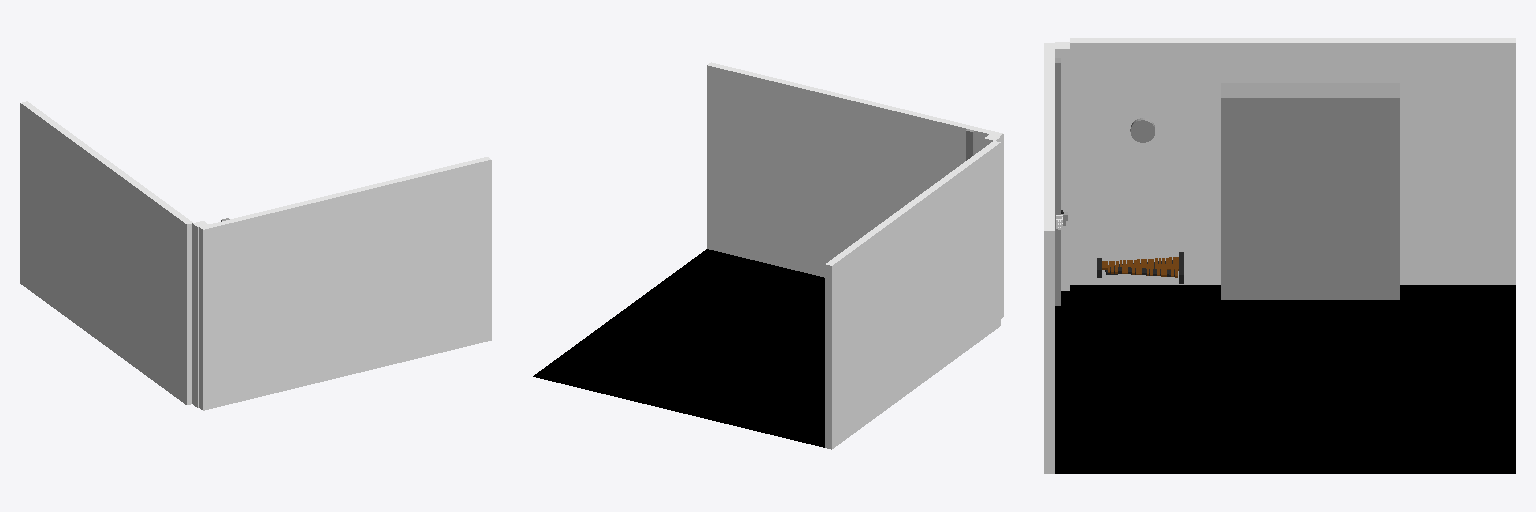
--- Render facts (derived) ---
Views: 3 orthographic renders of the robot side by side, from view 1: azimuth 30°, elevation 25°; view 2: azimuth 150°, elevation 25°; view 3: azimuth 270°, elevation 25°.
Robot: marimbabot_ur5 — 97 links, 96 joints (18 revolute, 78 fixed); root link world; default pose: all joints at 0 but 6 set to mid-range because 0 is outside their limits (s_model_finger_1_joint_1 = 0.6357, s_model_finger_1_joint_3 = -0.637, s_model_finger_2_joint_1 = 0.6357, s_model_finger_2_joint_3 = -0.637, s_model_finger_middle_joint_1 = 0.6357, s_model_finger_middle_joint_3 = -0.637).
Visible links, largest first — view 1: side_wall, wall, small_wall; view 2: side_wall, floor, wall; view 3: floor, wall, shelf, side_wall, small_wall, cable_duct.
Link boxes in pixels (left/top/right/bottom): side_wall: left=199, top=157, right=491, bottom=410; wall: left=20, top=101, right=192, bottom=404; small_wall: left=192, top=221, right=208, bottom=407; side_wall: left=707, top=62, right=1003, bottom=318; floor: left=533, top=249, right=824, bottom=447; wall: left=825, top=141, right=1000, bottom=449; floor: left=1055, top=285, right=1515, bottom=473; wall: left=1070, top=38, right=1515, bottom=284; shelf: left=1221, top=83, right=1399, bottom=299; side_wall: left=1044, top=43, right=1054, bottom=473; small_wall: left=1055, top=42, right=1069, bottom=290; cable_duct: left=1055, top=58, right=1060, bottom=305.
Bounding box of the posed robot: 5.12 × 5.29 × 3 m (x, y, z).
Meshes: 17 distinct files referenced, 2 mesh visuals loaded (2 binary STL); not drawn: 24 (reference not matched to a file when rendering).

URDF robot description (marimbabot_ur5):
<?xml version="1.0" ?>
<!-- =================================================================================== -->
<!-- |    This document was autogenerated by xacro from [local-path]/catkin_ws/src/robot_project/marimbabot_description/urdf/marimbabot_ur5.urdf.xacro | -->
<!-- |    EDITING THIS FILE BY HAND IS NOT RECOMMENDED                                 | -->
<!-- =================================================================================== -->
<robot name="marimbabot_ur5">
    <material name="black">
        <color rgba="0.0 0.0 0.0 1.0" />
    </material>
    <material name="white">
        <color rgba="1 1 1 1" />
    </material>
    <material name="brown">
        <color rgba="0.87 0.72 0.53 1" />
    </material>
    <material name="lightgray">
        <color rgba="0.6 0.6 0.6 1" />
    </material>
    <link name="floor">
        <inertial>
            <origin xyz="2.5 2.5 0" rpy="0 0 0" />
            <mass value="2000" />
            <inertia ixx="1" ixy="0" ixz="0" iyy="1" iyz="0" izz="1" />
        </inertial>
        <visual>
            <material name="black" />
            <origin xyz="2.5 2.4175 0" />
            <geometry>
                <box size="5.0 5.165 0.001" />
            </geometry>
        </visual>
        <collision>
            <origin xyz="2.5 2.4175 0" />
            <geometry>
                <box size="5.0 5.165 0.001" />
            </geometry>
        </collision>
    </link>
    <gazebo reference="floor">
        <material>Gazebo/Blue</material>
        <turnGravityOff>false</turnGravityOff>
        <selfCollide>true</selfCollide>
        <!-- kp: stiffness kd: damping mu1, mu2: friction -->
        <mu1>100.0</mu1>
        <mu2>100.0</mu2>
        <kp>1000000.0</kp>
        <kd>1.0</kd>
        <plugin name="gazebo_ros_control">
            <robotNamespace>/</robotNamespace>
        </plugin>
    </gazebo>
    <link name="wall">
        <inertial>
            <origin xyz="-0.06 2.5 1.5" rpy="0 0 0" />
            <mass value="2000" />
            <inertia ixx="1" ixy="0" ixz="0" iyy="1" iyz="0" izz="1" />
        </inertial>
        <visual>
            <material name="wall_mat">
                <color rgba="1.0 1.0 1.0 0.4" />
            </material>
            <origin xyz="-0.06 2.5 1.5" />
            <geometry>
                <box size="0.12 5.0 3.0" />
            </geometry>
        </visual>
        <collision>
            <origin xyz="-0.06 2.5 1.5" />
            <geometry>
                <box size="0.12 5.0 3.0" />
            </geometry>
        </collision>
    </link>
    <gazebo reference="wall">
        <material>Gazebo/Blue</material>
        <turnGravityOff>false</turnGravityOff>
        <selfCollide>true</selfCollide>
        <!-- kp: stiffness kd: damping mu1, mu2: friction -->
        <mu1>100.0</mu1>
        <mu2>100.0</mu2>
        <kp>1000000.0</kp>
        <kd>1.0</kd>
    </gazebo>
    <!-- frame of the ur5 mount plate -->
    <link name="ur5_mount_plate" />
    <!-- tilted ur5 mount - the meshes are not centered at mount point so they are adjusted to fit to the frame -->
    <link name="ur5_mount">
        <visual>
            <material name="lightgray" />
            <origin xyz="-0.0245 -0.09 -0.28" />
            <geometry>
                <mesh filename="package://tams_ur5_setup_description/meshes/ur5_mount_binary_v3.stl" scale="0.001 0.001 0.001" />
            </geometry>
        </visual>
        <collision>
            <origin xyz="-0.0245 -0.09 -0.28" />
            <geometry>
                <mesh filename="package://tams_ur5_setup_description/meshes/ur5_mount_binary_v3.stl" scale="0.001 0.001 0.001" />
            </geometry>
        </collision>
        <inertial>
            <mass value="0.1" />
            <origin xyz="0 0 0" rpy="0 0 0" />
            <inertia ixx="0.03" iyy="0.03" izz="0.03" ixy="0.0" ixz="0.0" iyz="0.0" />
        </inertial>
    </link>
    <link name="side_wall">
        <inertial>
            <origin xyz="0 0 0" rpy="0 0 0" />
            <mass value="2000" />
            <inertia ixx="1" ixy="0" ixz="0" iyy="1" iyz="0" izz="1" />
        </inertial>
        <visual>
            <material name="side_wall_mat">
                <color rgba="1.0 1.0 1.0 0.4" />
            </material>
            <origin xyz="0 0 0" />
            <geometry>
                <box size="5.0 0.12 3.0" />
            </geometry>
        </visual>
        <collision>
            <origin xyz="0 0 0.0" />
            <geometry>
                <box size="5.0 0.12 3.0" />
            </geometry>
        </collision>
    </link>
    <gazebo reference="side_wall">
        <material>Gazebo/Blue</material>
        <turnGravityOff>false</turnGravityOff>
        <selfCollide>true</selfCollide>
        <!-- kp: stiffness kd: damping mu1, mu2: friction -->
        <mu1>100.0</mu1>
        <mu2>100.0</mu2>
        <kp>1000000.0</kp>
        <kd>1.0</kd>
    </gazebo>
    <link name="small_wall">
        <inertial>
            <origin xyz="0 0 0" rpy="0 0 0" />
            <mass value="2000" />
            <inertia ixx="1" ixy="0" ixz="0" iyy="1" iyz="0" izz="1" />
        </inertial>
        <visual>
            <material name="small_wall_mat">
                <color rgba="1.0 1.0 1.0 0.4" />
            </material>
            <origin xyz="0 0 0" />
            <geometry>
                <box size="0.19 0.165 3.0" />
            </geometry>
        </visual>
        <collision>
            <origin xyz="0 0 0.0" />
            <geometry>
                <!-- the collision model is 7cm wider due to security reasons -->
                <box size="0.33 0.305 3.0" />
            </geometry>
        </collision>
    </link>
    <gazebo reference="small_wall">
        <material>Gazebo/Blue</material>
        <turnGravityOff>false</turnGravityOff>
        <selfCollide>true</selfCollide>
        <!-- kp: stiffness kd: damping mu1, mu2: friction -->
        <mu1>100.0</mu1>
        <mu2>100.0</mu2>
        <kp>1000000.0</kp>
        <kd>1.0</kd>
    </gazebo>
    <link name="cable_duct">
        <inertial>
            <origin xyz="0 0 0" rpy="0 0 0" />
            <mass value="2000" />
            <inertia ixx="1" ixy="0" ixz="0" iyy="1" iyz="0" izz="1" />
        </inertial>
        <visual>
            <material name="cable_duct_mat">
                <color rgba="0.7 0.7 0.7 0.4" />
            </material>
            <origin xyz="0 0 0" />
            <geometry>
                <box size="0.13 0.06 3.0" />
            </geometry>
        </visual>
        <collision>
            <origin xyz="0 0 0" />
            <geometry>
                <!-- the collision model is 7cm wider then the actual duct, because of an unmodelled ethernet port -->
                <box size="0.27 0.2 3.0" />
            </geometry>
        </collision>
    </link>
    <gazebo reference="cable_duct">
        <material>Gazebo/Blue</material>
        <turnGravityOff>false</turnGravityOff>
        <selfCollide>true</selfCollide>
        <!-- kp: stiffness kd: damping mu1, mu2: friction -->
        <mu1>100.0</mu1>
        <mu2>100.0</mu2>
        <kp>1000000.0</kp>
        <kd>1.0</kd>
    </gazebo>
    <link name="shelf">
        <inertial>
            <origin xyz="1.7 0 0" rpy="0 0 0" />
            <mass value="60" />
            <inertia ixx="1" ixy="0" ixz="0" iyy="1" iyz="0" izz="1" />
        </inertial>
        <visual>
            <material name="shelf_mat">
                <color rgba="0.7 0.7 0.7 0.4" />
            </material>
            <origin xyz="0 1.7 0" />
            <geometry>
                <box size="0.4 2 2.5" />
            </geometry>
        </visual>
        <collision>
            <origin xyz="0 1.7 0" />
            <geometry>
                <!-- the collision model is 7cm wider due to security reasons -->
                <box size="0.54 2.14 2.5" />
            </geometry>
        </collision>
    </link>
    <gazebo reference="shelf">
        <material>Gazebo/Orange</material>
        <turnGravityOff>false</turnGravityOff>
        <selfCollide>true</selfCollide>
        <!-- kp: stiffness kd: damping mu1, mu2: friction -->
        <mu1>100.0</mu1>
        <mu2>100.0</mu2>
        <kp>1000000.0</kp>
        <kd>1.0</kd>
    </gazebo>
    <link name="april_tag_ur5">
        <inertial>
            <origin xyz="0 0 0" rpy="0 0 0" />
            <mass value="2000" />
            <inertia ixx="1" ixy="0" ixz="0" iyy="1" iyz="0" izz="1" />
        </inertial>
        <visual>
            <material name="lightgray" />
            <origin xyz="0 0 0" />
            <geometry>
                <box size="0.166 0.166 0.01" />
            </geometry>
        </visual>
        <collision>
            <origin xyz="0 0 0.0" />
            <geometry>
                <box size="0.166 0.166 0.01" />
            </geometry>
        </collision>
    </link>
    <gazebo reference="april_tag_ur5">
        <material>Gazebo/Blue</material>
        <turnGravityOff>false</turnGravityOff>
        <selfCollide>true</selfCollide>
        <mu1>100.0</mu1>
        <mu2>100.0</mu2>
        <kp>1000000.0</kp>
        <kd>1.0</kd>
    </gazebo>
    <link name="clock">
        <inertial>
            <origin xyz="0 0 0" rpy="0 0 0" />
            <mass value="2000" />
            <inertia ixx="1" ixy="0" ixz="0" iyy="1" iyz="0" izz="1" />
        </inertial>
        <visual>
            <material name="clock_mat">
                <color rgba="0.7 0.7 0.7 0.4" />
            </material>
            <origin xyz="0 0 0" />
            <geometry>
                <cylinder length="0.06" radius="0.14" />
            </geometry>
        </visual>
        <collision>
            <origin xyz="0 0 0.0" />
            <geometry>
                <cylinder length="0.06" radius="0.14" />
            </geometry>
        </collision>
    </link>
    <link name="turtlebot" />
    <link name="turtlebot_holder" />
    <joint name="floor_wall_joint" type="fixed">
        <parent link="floor" />
        <child link="wall" />
        <!-- The actual wall in the lab is slightly tilted, the rotation compensates approx 1 deg -->
        <origin rpy="0 0 0" xyz="0 0 0" />
        <!--<origin xyz="0 0 0" rpy="0 -0.017 0" />-->
    </joint>
    <joint name="wall_mount_plate_joint" type="fixed">
        <parent link="wall" />
        <child link="ur5_mount_plate" />
        <origin rpy="0 0 0" xyz="0.0 0.7245 1.05" />
    </joint>
    <joint name="wall_mount_joint" type="fixed">
        <parent link="ur5_mount_plate" />
        <child link="ur5_mount" />
        <origin rpy="0 0 3.141592653589793" xyz="0.2255 -0.025 0.032" />
    </joint>
    <joint name="side_wall_joint" type="fixed">
        <parent link="floor" />
        <child link="side_wall" />
        <!--<origin xyz="2.5 -0.06 1.5" rpy="0 0 0" />-->
        <origin rpy="0 0 0" xyz="2.5 -0.225 1.5" />
    </joint>
    <joint name="small_wall_joint" type="fixed">
        <parent link="floor" />
        <child link="small_wall" />
        <!--<origin xyz="2.5 -0.06 1.5" rpy="0 0 0" />-->
        <origin rpy="0 0 0" xyz="0.07 -0.0825 1.5" />
    </joint>
    <joint name="cable_duct_joint" type="fixed">
        <parent link="floor" />
        <child link="cable_duct" />
        <origin rpy="0 0 0" xyz="0.475 -0.135 1.5" />
    </joint>
    <joint name="shelf_joint" type="fixed">
        <parent link="floor" />
        <child link="shelf" />
        <!-- actual shelf is a little smaller -->
        <origin rpy="0 0 0" xyz="0.2 1 1.25" />
    </joint>
    <joint name="apriltag_ur5_joint" type="fixed">
        <parent link="wall" />
        <child link="april_tag_ur5" />
        <!-- <origin xyz="-0.015 0.75 1.494" rpy="${-pi/2-0.05} 0.0 ${-pi/2}" /> -->
        <!-- with rotation correction -->
        <origin rpy="-1.5707963267948966 0.0 -1.5557963267948967" xyz="-0.009 0.74 1.505" />
        <!-- offset relative to the tilted wall -->
    </joint>
    <joint name="clock_joint" type="fixed">
        <parent link="wall" />
        <child link="clock" />
        <origin rpy="-1.5707963267948966 0.0 -1.5707963267948966" xyz="0.03 0.82 1.93" />
        <!-- offset relative to the tilted wall -->
    </joint>
    <joint name="turtlebot_joint" type="fixed">
        <parent link="world" />
        <child link="turtlebot" />
        <origin rpy="0.0 0.0 0.0" xyz="0.26 1.31 0.0" />
    </joint>
    <joint name="turtlebot_holder_joint" type="fixed">
        <parent link="turtlebot" />
        <child link="turtlebot_holder" />
        <origin rpy="0.0 0.0 0.0" xyz="0.04 0.0 0.41" />
    </joint>
    <!-- fnh: copied from tams_ur5_description/urdf/ur5.urdf.xacro -->
    <!-- we don't want these
  <xacro:include filename="$(find tams_ur5_setup_description)/urdf/upstream/ur.transmission.xacro" />
  <xacro:include filename="$(find tams_ur5_setup_description)/urdf/upstream/ur.gazebo.xacro" />
  -->
    <!-- measured from model -->
    <!--property name="shoulder_height" value="0.089159" /-->
    <!--property name="shoulder_offset" value="0.13585" /-->
    <!-- shoulder_offset - elbow_offset + wrist_1_length = 0.10915 -->
    <!--property name="upper_arm_length" value="0.42500" /-->
    <!--property name="elbow_offset" value="0.1197" /-->
    <!-- CAD measured -->
    <!--property name="forearm_length" value="0.39225" /-->
    <!--property name="wrist_1_length" value="0.093" /-->
    <!-- CAD measured -->
    <!--property name="wrist_2_length" value="0.09465" /-->
    <!-- In CAD this distance is 0.930, but in the spec it is 0.09465 -->
    <!--property name="wrist_3_length" value="0.0823" /-->
    <!-- manually measured -->
    <!-- idea and easy_box borrowed from B21.xacro, 
     <url>http://ros.org/wiki/b21_description</url>, BSD license 

  (C) 2012 fnh, [email redacted]
-->
    <!-- <material name="black">
    <color rgba="0.0 0.0 0.0 1.0"/>
  </material> -->
    <!-- <material name="blue">
    <color rgba="0.0 0.0 0.8 1.0"/>
  </material>
  
  <material name="green">
    <color rgba="0.0 0.8 0.0 1.0"/>
  </material> -->
    <material name="gray">
        <color rgba="0.2 0.2 0.2 1.0" />
    </material>
    <!-- <material name="lightgray">
    <color rgba="0.6 0.6 0.6 1.0"/>
  </material>
  
  <material name="darkgray">
    <color rgba="0.4 0.4 0.4 1.0"/>
  </material> -->
    <material name="marimba_key">
        <color rgba="0.5 0.3 0.1 1.0" />
    </material>
    <!-- <material name="orange">
    <color rgba="0.95 0.64 0.0 1.0"/>
  </material>

  <material name="yellow">
    <color rgba="0.9 0.9 0.0 1.0"/>
  </material>

  <material name="gold">
    <color rgba="0.7 0.7 0.0 1.0"/>
  </material>

  <material name="silver">
    <color rgba="0.95 0.95 0.95 1.0"/>
  </material>
  
  <material name="white">
    <color rgba="1.0 1.0 1.0 1.0"/>
  </material> -->
    <!-- URDF/Gazebo model of a marimba.

Coordinate system:

From the point of view of the marimbist:
    x: points towards you
    y: points towards the right
    z: points towards the ceiling, according to right hand rule


Changelog:
    2023.03.02 Named and correctly positioned bar frames
               Added side boxes
    2023.01.26 Complete model v1
    2023.01.19 Row of keys working
    2023.01.04 First version created
-->
    <link name="marimba">
        <default_inertial_with_mass inertial="1" mass="0.001" />
    </link>
    <gazebo reference="marimba">
        <turnGravityOff>false</turnGravityOff>
        <selfCollide>true</selfCollide>
        <!-- TODO material -->
        <!--<material>Gazebo/Green</material>-->
        <mu1>50.0</mu1>
        <mu2>50.0</mu2>
        <kp>1000000.0</kp>
        <kd>1.0</kd>
    </gazebo>
    <!-- Bottom body -->
    <gazebo reference="body_bottom">
        <turnGravityOff>false</turnGravityOff>
        <selfCollide>true</selfCollide>
        <!-- TODO material -->
        <!-- <material>chordophones/OakWood</material> -->
        <mu1>50.0</mu1>
        <mu2>50.0</mu2>
        <kp>1000000.0</kp>
        <kd>1.0</kd>
    </gazebo>
    <link name="body_bottom">
        <inertial>
            <mass value="7.5" />
            <origin rpy="0 0 0" xyz="0 0 0" />
            <inertia ixx="0.2" ixy="0" ixz="0" iyy="0.2" iyz="0" izz="0.05" />
        </inertial>
        <visual>
            <origin rpy="0 0 0.18" xyz="0 0 0" />
            <geometry>
                <!-- <mesh filename="package://chordophones/meshes/guzheng-body.stl"  scale="0.001 0.001 0.001" /> -->
                <box size="0.2 0.82 0.03" />
            </geometry>
            <material name="gray" />
        </visual>
        <collision>
            <origin rpy="0 0 0.18" xyz="0 0 0" />
            <geometry>
                <box size="0.2 0.82 0.03" />
            </geometry>
        </collision>
    </link>
    <joint name="body_bottom/fixedjoint" type="fixed">
        <origin rpy="0 0 0" xyz="0 0 0" />
        <parent link="marimba" />
        <child link="body_bottom" />
    </joint>
    <!-- Top body -->
    <gazebo reference="body_top">
        <turnGravityOff>false</turnGravityOff>
        <selfCollide>true</selfCollide>
        <!-- TODO material -->
        <!-- <material>chordophones/OakWood</material> -->
        <mu1>50.0</mu1>
        <mu2>50.0</mu2>
        <kp>1000000.0</kp>
        <kd>1.0</kd>
    </gazebo>
    <link name="body_top">
        <inertial>
            <mass value="7.5" />
            <origin rpy="0 0 0" xyz="0 0 0" />
            <inertia ixx="0.2" ixy="0" ixz="0" iyy="0.2" iyz="0" izz="0.05" />
        </inertial>
        <visual>
            <origin rpy="0 0 -0.15" xyz="     -0.18     -0.02     0.0334" />
            <geometry>
                <!-- <mesh filename="package://chordophones/meshes/guzheng-body.stl"  scale="0.001 0.001 0.001" /> -->
                <box size="0.12 0.75 0.03" />
            </geometry>
            <material name="gray" />
        </visual>
        <collision>
            <origin rpy="0 0 -0.15" xyz="     -0.18     -0.02     0.0334" />
            <geometry>
                <box size="0.12 0.75 0.03" />
            </geometry>
        </collision>
    </link>
    <joint name="body_top/fixedjoint" type="fixed">
        <origin rpy="0 0 0" xyz="0 0 0" />
        <parent link="marimba" />
        <child link="body_top" />
    </joint>
    <!-- Left side box -->
    <gazebo reference="body_left">
        <turnGravityOff>false</turnGravityOff>
        <selfCollide>true</selfCollide>
        <!-- TODO material -->
        <!-- <material>chordophones/OakWood</material> -->
        <mu1>50.0</mu1>
        <mu2>50.0</mu2>
        <kp>1000000.0</kp>
        <kd>1.0</kd>
    </gazebo>
    <link name="body_left">
        <inertial>
            <mass value="7.5" />
            <origin rpy="0 0 0" xyz="0 0 0" />
            <inertia ixx="0.2" ixy="0" ixz="0" iyy="0.2" iyz="0" izz="0.05" />
        </inertial>
        <visual>
            <origin rpy="0 0 1.57" xyz="     -0.07999999999999999     -0.453     0.0335" />
            <geometry>
                <!-- <mesh filename="package://chordophones/meshes/guzheng-body.stl"  scale="0.001 0.001 0.001" /> -->
                <box size="0.05 0.61 0.1" />
            </geometry>
            <material name="gray" />
        </visual>
        <collision>
            <origin rpy="0 0 1.57" xyz="     -0.07999999999999999     -0.453     0.0335" />
            <geometry>
                <box size="0.05 0.61 0.1" />
            </geometry>
        </collision>
    </link>
    <joint name="body_left/fixedjoint" type="fixed">
        <origin rpy="0 0 0" xyz="0 0 0" />
        <parent link="marimba" />
        <child link="body_left" />
    </joint>
    <!-- Right side box -->
    <gazebo reference="body_right">
        <turnGravityOff>false</turnGravityOff>
        <selfCollide>true</selfCollide>
        <!-- TODO material -->
        <!-- <material>chordophones/OakWood</material> -->
        <mu1>50.0</mu1>
        <mu2>50.0</mu2>
        <kp>1000000.0</kp>
        <kd>1.0</kd>
    </gazebo>
    <link name="body_right">
        <inertial>
            <mass value="7.5" />
            <origin rpy="0 0 0" xyz="0 0 0" />
            <inertia ixx="0.2" ixy="0" ixz="0" iyy="0.2" iyz="0" izz="0.05" />
        </inertial>
        <visual>
            <origin rpy="0 0 1.57" xyz="     -0.07999999999999999     0.46935000000000004     0.0335" />
            <geometry>
                <!-- <mesh filename="package://chordophones/meshes/guzheng-body.stl"  scale="0.001 0.001 0.001" /> -->
                <box size="0.05 0.32 0.1" />
            </geometry>
            <material name="gray" />
        </visual>
        <collision>
            <origin rpy="0 0 1.57" xyz="     -0.07999999999999999     0.46935000000000004     0.0335" />
            <geometry>
                <box size="0.05 0.32 0.1" />
            </geometry>
        </collision>
    </link>
    <joint name="body_right/fixedjoint" type="fixed">
        <origin rpy="0 0 0" xyz="0 0 0" />
        <parent link="marimba" />
        <child link="body_right" />
    </joint>
    <gazebo reference="bar_C4">
        <turnGravityOff>false</turnGravityOff>
        <selfCollide>true</selfCollide>
        <!-- TODO material -->
        <!-- <material>chordophones/OakWood</material> -->
        <mu1>50.0</mu1>
        <mu2>50.0</mu2>
        <kp>1000000.0</kp>
        <kd>1.0</kd>
    </gazebo>
    <link name="bar_C4">
        <inertial>
            <mass value="0.03" />
            <origin rpy="0 0 0" xyz="0 0 0" />
            <inertia ixx="0.01" ixy="0" ixz="0" iyy="0.01" iyz="0" izz="0.01" />
        </inertial>
        <visual>
            <origin rpy="0 0 0" xyz="0 0 -0.00925" />
            <geometry>
                <box size="0.32 0.0323 0.0185" />
            </geometry>
            <!-- TODO material -->
            <!-- <material name="oak_wood" /> -->
            <material name="marimba_key" />
        </visual>
        <collision>
            <origin rpy="0 0 0" xyz="0 0 -0.00925" />
            <geometry>
                <box size="0.32 0.0323 0.0185" />
            </geometry>
        </collision>
    </link>
    <joint name="bar_C4/joint" type="fixed">
        <origin rpy="0 0 0" xyz="0.05 -0.41 0.0335" />
        <parent link="body_bottom" />
        <child link="bar_C4" />
    </joint>
    <transmission name="bar_C4/joint_transmission">
        <type>transmission_interface/SimpleTransmission</type>
        <joint name="bar_C4/joint">
            <hardwareInterface>hardware_interface/EffortJointInterface</hardwareInterface>
        </joint>
        <actuator name="bar_C4/joint_motor">
            <mechanicalReduction>1</mechanicalReduction>
        </actuator>
    </transmission>
    <gazebo reference="bar_D4">
        <turnGravityOff>false</turnGravityOff>
        <selfCollide>true</selfCollide>
        <!-- TODO material -->
        <!-- <material>chordophones/OakWood</material> -->
        <mu1>50.0</mu1>
        <mu2>50.0</mu2>
        <kp>1000000.0</kp>
        <kd>1.0</kd>
    </gazebo>
    <link name="bar_D4">
        <inertial>
            <mass value="0.03" />
            <origin rpy="0 0 0" xyz="0 0 0" />
            <inertia ixx="0.01" ixy="0" ixz="0" iyy="0.01" iyz="0" izz="0.01" />
        </inertial>
        <visual>
            <origin rpy="0 0 0" xyz="0 0 -0.00925" />
            <geometry>
                <box size="0.31331818181818183 0.0323 0.0185" />
            </geometry>
            <!-- TODO material -->
            <!-- <material name="oak_wood" /> -->
            <material name="marimba_key" />
        </visual>
        <collision>
            <origin rpy="0 0 0" xyz="0 0 -0.00925" />
            <geometry>
                <box size="0.31331818181818183 0.0323 0.0185" />
            </geometry>
        </collision>
    </link>
    <joint name="bar_D4/joint" type="fixed">
        <origin rpy="0 0 0" xyz="0.047828409090909095 -0.3702 0.0335" />
        <parent link="body_bottom" />
        <child link="bar_D4" />
    </joint>
    <transmission name="bar_D4/joint_transmission">
        <type>transmission_interface/SimpleTransmission</type>
        <joint name="bar_D4/joint">
            <hardwareInterface>hardware_interface/EffortJointInterface</hardwareInterface>
        </joint>
        <actuator name="bar_D4/joint_motor">
            <mechanicalReduction>1</mechanicalReduction>
        </actuator>
    </transmission>
    <gazebo reference="bar_E4">
        <turnGravityOff>false</turnGravityOff>
        <selfCollide>true</selfCollide>
        <!-- TODO material -->
        <!-- <material>chordophones/OakWood</material> -->
        <mu1>50.0</mu1>
        <mu2>50.0</mu2>
        <kp>1000000.0</kp>
        <kd>1.0</kd>
    </gazebo>
    <link name="bar_E4">
        <inertial>
            <mass value="0.03" />
            <origin rpy="0 0 0" xyz="0 0 0" />
            <inertia ixx="0.01" ixy="0" ixz="0" iyy="0.01" iyz="0" izz="0.01" />
        </inertial>
        <visual>
            <origin rpy="0 0 0" xyz="0 0 -0.00925" />
            <geometry>
                <box size="0.30663636363636365 0.0323 0.0185" />
            </geometry>
            <!-- TODO material -->
            <!-- <material name="oak_wood" /> -->
            <material name="marimba_key" />
        </visual>
        <collision>
            <origin rpy="0 0 0" xyz="0 0 -0.00925" />
            <geometry>
                <box size="0.30663636363636365 0.0323 0.0185" />
            </geometry>
        </collision>
    </link>
    <joint name="bar_E4/joint" type="fixed">
        <origin rpy="0 0 0" xyz="0.04565681818181819 -0.33039999999999997 0.0335" />
        <parent link="body_bottom" />
        <child link="bar_E4" />
    </joint>
    <transmission name="bar_E4/joint_transmission">
        <type>transmission_interface/SimpleTransmission</type>
        <joint name="bar_E4/joint">
            <hardwareInterface>hardware_interface/EffortJointInterface</hardwareInterface>
        </joint>
        <actuator name="bar_E4/joint_motor">
            <mechanicalReduction>1</mechanicalReduction>
        </actuator>
    </transmission>
    <gazebo reference="bar_F4">
        <turnGravityOff>false</turnGravityOff>
        <selfCollide>true</selfCollide>
        <!-- TODO material -->
        <!-- <material>chordophones/OakWood</material> -->
        <mu1>50.0</mu1>
        <mu2>50.0</mu2>
        <kp>1000000.0</kp>
        <kd>1.0</kd>
    </gazebo>
    <link name="bar_F4">
        <inertial>
            <mass value="0.03" />
            <origin rpy="0 0 0" xyz="0 0 0" />
            <inertia ixx="0.01" ixy="0" ixz="0" iyy="0.01" iyz="0" izz="0.01" />
        </inertial>
        <visual>
            <origin rpy="0 0 0" xyz="0 0 -0.00925" />
            <geometry>
                <box size="0.2999545454545455 0.0323 0.0185" />
            </geometry>
            <!-- TODO material -->
            <!-- <material name="oak_wood" /> -->
            <material name="marimba_key" />
        </visual>
        <collision>
            <origin rpy="0 0 0" xyz="0 0 -0.00925" />
            <geometry>
                <box size="0.2999545454545455 0.0323 0.0185" />
            </geometry>
        </collision>
    </link>
    <joint name="bar_F4/joint" type="fixed">
        <origin rpy="0 0 0" xyz="0.04348522727272727 -0.29059999999999997 0.0335" />
        <parent link="body_bottom" />
        <child link="bar_F4" />
    </joint>
    <transmission name="bar_F4/joint_transmission">
        <type>transmission_interface/SimpleTransmission</type>
        <joint name="bar_F4/joint">
            <hardwareInterface>hardware_interface/EffortJointInterface</hardwareInterface>
        </joint>
        <actuator name="bar_F4/joint_motor">
            <mechanicalReduction>1</mechanicalReduction>
        </actuator>
    </transmission>
    <gazebo reference="bar_G4">
        <turnGravityOff>false</turnGravityOff>
        <selfCollide>true</selfCollide>
        <!-- TODO material -->
        <!-- <material>chordophones/OakWood</material> -->
        <mu1>50.0</mu1>
        <mu2>50.0</mu2>
        <kp>1000000.0</kp>
        <kd>1.0</kd>
    </gazebo>
    <link name="bar_G4">
        <inertial>
            <mass value="0.03" />
            <origin rpy="0 0 0" xyz="0 0 0" />
            <inertia ixx="0.01" ixy="0" ixz="0" iyy="0.01" iyz="0" izz="0.01" />
        </inertial>
        <visual>
            <origin rpy="0 0 0" xyz="0 0 -0.00925" />
            <geometry>
                <box size="0.2932727272727273 0.0323 0.0185" />
            </geometry>
            <!-- TODO material -->
            <!-- <material name="oak_wood" /> -->
            <material name="marimba_key" />
        </visual>
        <collision>
            <origin rpy="0 0 0" xyz="0 0 -0.00925" />
            <geometry>
                <box size="0.2932727272727273 0.0323 0.0185" />
            </geometry>
        </collision>
    </link>
    <joint name="bar_G4/joint" type="fixed">
        <origin rpy="0 0 0" xyz="0.041313636363636365 -0.25079999999999997 0.0335" />
        <parent link="body_bottom" />
        <child link="bar_G4" />
    </joint>
    <transmission name="bar_G4/joint_transmission">
        <type>transmission_interface/SimpleTransmission</type>
        <joint name="bar_G4/joint">
            <hardwareInterface>hardware_interface/EffortJointInterface</hardwareInterface>
        </joint>
        <actuator name="bar_G4/joint_motor">
            <mechanicalReduction>1</mechanicalReduction>
        </actuator>
    </transmission>
    <gazebo reference="bar_A4">
        <turnGravityOff>false</turnGravityOff>
        <selfCollide>true</selfCollide>
        <!-- TODO material -->
        <!-- <material>chordophones/OakWood</material> -->
        <mu1>50.0</mu1>
        <mu2>50.0</mu2>
        <kp>1000000.0</kp>
        <kd>1.0</kd>
    </gazebo>
    <link name="bar_A4">
        <inertial>
            <mass value="0.03" />
            <origin rpy="0 0 0" xyz="0 0 0" />
            <inertia ixx="0.01" ixy="0" ixz="0" iyy="0.01" iyz="0" izz="0.01" />
        </inertial>
        <visual>
            <origin rpy="0 0 0" xyz="0 0 -0.00925" />
            <geometry>
                <box size="0.2865909090909091 0.0323 0.0185" />
            </geometry>
            <!-- TODO material -->
            <!-- <material name="oak_wood" /> -->
            <material name="marimba_key" />
        </visual>
        <collision>
            <origin rpy="0 0 0" xyz="0 0 -0.00925" />
            <geometry>
                <box size="0.2865909090909091 0.0323 0.0185" />
            </geometry>
        </collision>
    </link>
    <joint name="bar_A4/joint" type="fixed">
        <origin rpy="0 0 0" xyz="0.03914204545454546 -0.21099999999999997 0.0335" />
        <parent link="body_bottom" />
        <child link="bar_A4" />
    </joint>
    <transmission name="bar_A4/joint_transmission">
        <type>transmission_interface/SimpleTransmission</type>
        <joint name="bar_A4/joint">
            <hardwareInterface>hardware_interface/EffortJointInterface</hardwareInterface>
        </joint>
        <actuator name="bar_A4/joint_motor">
            <mechanicalReduction>1</mechanicalReduction>
        </actuator>
    </transmission>
    <gazebo reference="bar_B4">
        <turnGravityOff>false</turnGravityOff>
        <selfCollide>true</selfCollide>
        <!-- TODO material -->
        <!-- <material>chordophones/OakWood</material> -->
        <mu1>50.0</mu1>
        <mu2>50.0</mu2>
        <kp>1000000.0</kp>
        <kd>1.0</kd>
    </gazebo>
    <link name="bar_B4">
        <inertial>
            <mass value="0.03" />
            <origin rpy="0 0 0" xyz="0 0 0" />
            <inertia ixx="0.01" ixy="0" ixz="0" iyy="0.01" iyz="0" izz="0.01" />
        </inertial>
        <visual>
            <origin rpy="0 0 0" xyz="0 0 -0.00925" />
            <geometry>
                <box size="0.2799090909090909 0.0323 0.0185" />
            </geometry>
            <!-- TODO material -->
            <!-- <material name="oak_wood" /> -->
            <material name="marimba_key" />
        </visual>
        <collision>
            <origin rpy="0 0 0" xyz="0 0 -0.00925" />
            <geometry>
                <box size="0.2799090909090909 0.0323 0.0185" />
            </geometry>
        </collision>
    </link>
    <joint name="bar_B4/joint" type="fixed">
        <origin rpy="0 0 0" xyz="0.03697045454545454 -0.17119999999999996 0.0335" />
        <parent link="body_bottom" />
        <child link="bar_B4" />
    </joint>
    <transmission name="bar_B4/joint_transmission">
        <type>transmission_interface/SimpleTransmission</type>
        <joint name="bar_B4/joint">
            <hardwareInterface>hardware_interface/EffortJointInterface</hardwareInterface>
        </joint>
        <actuator name="bar_B4/joint_motor">
            <mechanicalReduction>1</mechanicalReduction>
        </actuator>
    </transmission>
    <gazebo reference="bar_C5">
        <turnGravityOff>false</turnGravityOff>
        <selfCollide>true</selfCollide>
        <!-- TODO material -->
        <!-- <material>chordophones/OakWood</material> -->
        <mu1>50.0</mu1>
        <mu2>50.0</mu2>
        <kp>1000000.0</kp>
        <kd>1.0</kd>
    </gazebo>
    <link name="bar_C5">
        <inertial>
            <mass value="0.03" />
            <origin rpy="0 0 0" xyz="0 0 0" />
            <inertia ixx="0.01" ixy="0" ixz="0" iyy="0.01" iyz="0" izz="0.01" />
        </inertial>
        <visual>
            <origin rpy="0 0 0" xyz="0 0 -0.00925" />
            <geometry>
                <box size="0.2732272727272727 0.0323 0.0185" />
            </geometry>
            <!-- TODO material -->
            <!-- <material name="oak_wood" /> -->
            <material name="marimba_key" />
        </visual>
        <collision>
            <origin rpy="0 0 0" xyz="0 0 -0.00925" />
            <geometry>
                <box size="0.2732272727272727 0.0323 0.0185" />
            </geometry>
        </collision>
    </link>
    <joint name="bar_C5/joint" type="fixed">
        <origin rpy="0 0 0" xyz="0.034798863636363635 -0.13139999999999996 0.0335" />
        <parent link="body_bottom" />
        <child link="bar_C5" />
    </joint>
    <transmission name="bar_C5/joint_transmission">
        <type>transmission_interface/SimpleTransmission</type>
        <joint name="bar_C5/joint">
            <hardwareInterface>hardware_interface/EffortJointInterface</hardwareInterface>
        </joint>
        <actuator name="bar_C5/joint_motor">
            <mechanicalReduction>1</mechanicalReduction>
        </actuator>
    </transmission>
    <gazebo reference="bar_D5">
        <turnGravityOff>false</turnGravityOff>
        <selfCollide>true</selfCollide>
        <!-- TODO material -->
        <!-- <material>chordophones/OakWood</material> -->
        <mu1>50.0</mu1>
        <mu2>50.0</mu2>
        <kp>1000000.0</kp>
        <kd>1.0</kd>
    </gazebo>
    <link name="bar_D5">
        <inertial>
            <mass value="0.03" />
            <origin rpy="0 0 0" xyz="0 0 0" />
            <inertia ixx="0.01" ixy="0" ixz="0" iyy="0.01" iyz="0" izz="0.01" />
        </inertial>
        <visual>
            <origin rpy="0 0 0" xyz="0 0 -0.00925" />
            <geometry>
                <box size="0.26654545454545453 0.0323 0.0185" />
            </geometry>
            <!-- TODO material -->
            <!-- <material name="oak_wood" /> -->
            <material name="marimba_key" />
        </visual>
        <collision>
            <origin rpy="0 0 0" xyz="0 0 -0.00925" />
            <geometry>
                <box size="0.26654545454545453 0.0323 0.0185" />
            </geometry>
        </collision>
    </link>
    <joint name="bar_D5/joint" type="fixed">
        <origin rpy="0 0 0" xyz="0.03262727272727273 -0.09159999999999996 0.0335" />
        <parent link="body_bottom" />
        <child link="bar_D5" />
    </joint>
    <transmission name="bar_D5/joint_transmission">
        <type>transmission_interface/SimpleTransmission</type>
        <joint name="bar_D5/joint">
            <hardwareInterface>hardware_interface/EffortJointInterface</hardwareInterface>
        </joint>
        <actuator name="bar_D5/joint_motor">
            <mechanicalReduction>1</mechanicalReduction>
        </actuator>
    </transmission>
    <gazebo reference="bar_E5">
        <turnGravityOff>false</turnGravityOff>
        <selfCollide>true</selfCollide>
        <!-- TODO material -->
        <!-- <material>chordophones/OakWood</material> -->
        <mu1>50.0</mu1>
        <mu2>50.0</mu2>
        <kp>1000000.0</kp>
        <kd>1.0</kd>
    </gazebo>
    <link name="bar_E5">
        <inertial>
            <mass value="0.03" />
            <origin rpy="0 0 0" xyz="0 0 0" />
            <inertia ixx="0.01" ixy="0" ixz="0" iyy="0.01" iyz="0" izz="0.01" />
        </inertial>
        <visual>
            <origin rpy="0 0 0" xyz="0 0 -0.00925" />
            <geometry>
                <box size="0.25986363636363635 0.0323 0.0185" />
            </geometry>
            <!-- TODO material -->
            <!-- <material name="oak_wood" /> -->
            <material name="marimba_key" />
        </visual>
        <collision>
            <origin rpy="0 0 0" xyz="0 0 -0.00925" />
            <geometry>
                <box size="0.25986363636363635 0.0323 0.0185" />
            </geometry>
        </collision>
    </link>
    <joint name="bar_E5/joint" type="fixed">
        <origin rpy="0 0 0" xyz="0.030455681818181816 -0.05179999999999996 0.0335" />
        <parent link="body_bottom" />
        <child link="bar_E5" />
    </joint>
    <transmission name="bar_E5/joint_transmission">
        <type>transmission_interface/SimpleTransmission</type>
        <joint name="bar_E5/joint">
            <hardwareInterface>hardware_interface/EffortJointInterface</hardwareInterface>
        </joint>
        <actuator name="bar_E5/joint_motor">
            <mechanicalReduction>1</mechanicalReduction>
        </actuator>
    </transmission>
    <gazebo reference="bar_F5">
        <turnGravityOff>false</turnGravityOff>
        <selfCollide>true</selfCollide>
        <!-- TODO material -->
        <!-- <material>chordophones/OakWood</material> -->
        <mu1>50.0</mu1>
        <mu2>50.0</mu2>
        <kp>1000000.0</kp>
        <kd>1.0</kd>
    </gazebo>
    <link name="bar_F5">
        <inertial>
            <mass value="0.03" />
            <origin rpy="0 0 0" xyz="0 0 0" />
            <inertia ixx="0.01" ixy="0" ixz="0" iyy="0.01" iyz="0" izz="0.01" />
        </inertial>
        <visual>
            <origin rpy="0 0 0" xyz="0 0 -0.00925" />
            <geometry>
                <box size="0.2531818181818182 0.0323 0.0185" />
            </geometry>
            <!-- TODO material -->
            <!-- <material name="oak_wood" /> -->
            <material name="marimba_key" />
        </visual>
        <collision>
            <origin rpy="0 0 0" xyz="0 0 -0.00925" />
            <geometry>
                <box size="0.2531818181818182 0.0323 0.0185" />
            </geometry>
        </collision>
    </link>
    <joint name="bar_F5/joint" type="fixed">
        <origin rpy="0 0 0" xyz="0.028284090909090908 -0.011999999999999955 0.0335" />
        <parent link="body_bottom" />
        <child link="bar_F5" />
    </joint>
    <transmission name="bar_F5/joint_transmission">
        <type>transmission_interface/SimpleTransmission</type>
        <joint name="bar_F5/joint">
            <hardwareInterface>hardware_interface/EffortJointInterface</hardwareInterface>
        </joint>
        <actuator name="bar_F5/joint_motor">
            <mechanicalReduction>1</mechanicalReduction>
        </actuator>
    </transmission>
    <gazebo reference="bar_G5">
        <turnGravityOff>false</turnGravityOff>
        <selfCollide>true</selfCollide>
        <!-- TODO material -->
        <!-- <material>chordophones/OakWood</material> -->
        <mu1>50.0</mu1>
        <mu2>50.0</mu2>
        <kp>1000000.0</kp>
        <kd>1.0</kd>
    </gazebo>
    <link name="bar_G5">
        <inertial>
            <mass value="0.03" />
            <origin rpy="0 0 0" xyz="0 0 0" />
            <inertia ixx="0.01" ixy="0" ixz="0" iyy="0.01" iyz="0" izz="0.01" />
        </inertial>
        <visual>
            <origin rpy="0 0 0" xyz="0 0 -0.00925" />
            <geometry>
                <box size="0.2465 0.0323 0.0185" />
            </geometry>
            <!-- TODO material -->
            <!-- <material name="oak_wood" /> -->
            <material name="marimba_key" />
        </visual>
        <collision>
            <origin rpy="0 0 0" xyz="0 0 -0.00925" />
            <geometry>
                <box size="0.2465 0.0323 0.0185" />
            </geometry>
        </collision>
    </link>
    <joint name="bar_G5/joint" type="fixed">
        <origin rpy="0 0 0" xyz="0.0261125 0.027800000000000047 0.0335" />
        <parent link="body_bottom" />
        <child link="bar_G5" />
    </joint>
    <transmission name="bar_G5/joint_transmission">
        <type>transmission_interface/SimpleTransmission</type>
        <joint name="bar_G5/joint">
            <hardwareInterface>hardware_interface/EffortJointInterface</hardwareInterface>
        </joint>
        <actuator name="bar_G5/joint_motor">
            <mechanicalReduction>1</mechanicalReduction>
        </actuator>
    </transmission>
    <gazebo reference="bar_A5">
        <turnGravityOff>false</turnGravityOff>
        <selfCollide>true</selfCollide>
        <!-- TODO material -->
        <!-- <material>chordophones/OakWood</material> -->
        <mu1>50.0</mu1>
        <mu2>50.0</mu2>
        <kp>1000000.0</kp>
        <kd>1.0</kd>
    </gazebo>
    <link name="bar_A5">
        <inertial>
            <mass value="0.03" />
            <origin rpy="0 0 0" xyz="0 0 0" />
            <inertia ixx="0.01" ixy="0" ixz="0" iyy="0.01" iyz="0" izz="0.01" />
        </inertial>
        <visual>
            <origin rpy="0 0 0" xyz="0 0 -0.00925" />
            <geometry>
                <box size="0.23981818181818182 0.0323 0.0185" />
            </geometry>
            <!-- TODO material -->
            <!-- <material name="oak_wood" /> -->
            <material name="marimba_key" />
        </visual>
        <collision>
            <origin rpy="0 0 0" xyz="0 0 -0.00925" />
            <geometry>
                <box size="0.23981818181818182 0.0323 0.0185" />
            </geometry>
        </collision>
    </link>
    <joint name="bar_A5/joint" type="fixed">
        <origin rpy="0 0 0" xyz="0.02394090909090909 0.06760000000000005 0.0335" />
        <parent link="body_bottom" />
        <child link="bar_A5" />
    </joint>
    <transmission name="bar_A5/joint_transmission">
        <type>transmission_interface/SimpleTransmission</type>
        <joint name="bar_A5/joint">
            <hardwareInterface>hardware_interface/EffortJointInterface</hardwareInterface>
        </joint>
        <actuator name="bar_A5/joint_motor">
            <mechanicalReduction>1</mechanicalReduction>
        </actuator>
    </transmission>
    <gazebo reference="bar_B5">
        <turnGravityOff>false</turnGravityOff>
        <selfCollide>true</selfCollide>
        <!-- TODO material -->
        <!-- <material>chordophones/OakWood</material> -->
        <mu1>50.0</mu1>
        <mu2>50.0</mu2>
        <kp>1000000.0</kp>
        <kd>1.0</kd>
    </gazebo>
    <link name="bar_B5">
        <inertial>
            <mass value="0.03" />
            <origin rpy="0 0 0" xyz="0 0 0" />
            <inertia ixx="0.01" ixy="0" ixz="0" iyy="0.01" iyz="0" izz="0.01" />
        </inertial>
        <visual>
            <origin rpy="0 0 0" xyz="0 0 -0.00925" />
            <geometry>
                <box size="0.23313636363636364 0.0323 0.0185" />
            </geometry>
            <!-- TODO material -->
            <!-- <material name="oak_wood" /> -->
            <material name="marimba_key" />
        </visual>
        <collision>
            <origin rpy="0 0 0" xyz="0 0 -0.00925" />
            <geometry>
                <box size="0.23313636363636364 0.0323 0.0185" />
            </geometry>
        </collision>
    </link>
    <joint name="bar_B5/joint" type="fixed">
        <origin rpy="0 0 0" xyz="0.021769318181818178 0.1074000000000001 0.0335" />
        <parent link="body_bottom" />
        <child link="bar_B5" />
    </joint>
    <transmission name="bar_B5/joint_transmission">
        <type>transmission_interface/SimpleTransmission</type>
        <joint name="bar_B5/joint">
            <hardwareInterface>hardware_interface/EffortJointInterface</hardwareInterface>
        </joint>
        <actuator name="bar_B5/joint_motor">
            <mechanicalReduction>1</mechanicalReduction>
        </actuator>
    </transmission>
    <gazebo reference="bar_C6">
        <turnGravityOff>false</turnGravityOff>
        <selfCollide>true</selfCollide>
        <!-- TODO material -->
        <!-- <material>chordophones/OakWood</material> -->
        <mu1>50.0</mu1>
        <mu2>50.0</mu2>
        <kp>1000000.0</kp>
        <kd>1.0</kd>
    </gazebo>
    <link name="bar_C6">
        <inertial>
            <mass value="0.03" />
            <origin rpy="0 0 0" xyz="0 0 0" />
            <inertia ixx="0.01" ixy="0" ixz="0" iyy="0.01" iyz="0" izz="0.01" />
        </inertial>
        <visual>
            <origin rpy="0 0 0" xyz="0 0 -0.00925" />
            <geometry>
                <box size="0.22645454545454546 0.0323 0.0185" />
            </geometry>
            <!-- TODO material -->
            <!-- <material name="oak_wood" /> -->
            <material name="marimba_key" />
        </visual>
        <collision>
            <origin rpy="0 0 0" xyz="0 0 -0.00925" />
            <geometry>
                <box size="0.22645454545454546 0.0323 0.0185" />
            </geometry>
        </collision>
    </link>
    <joint name="bar_C6/joint" type="fixed">
        <origin rpy="0 0 0" xyz="0.01959772727272727 0.14720000000000005 0.0335" />
        <parent link="body_bottom" />
        <child link="bar_C6" />
    </joint>
    <transmission name="bar_C6/joint_transmission">
        <type>transmission_interface/SimpleTransmission</type>
        <joint name="bar_C6/joint">
            <hardwareInterface>hardware_interface/EffortJointInterface</hardwareInterface>
        </joint>
        <actuator name="bar_C6/joint_motor">
            <mechanicalReduction>1</mechanicalReduction>
        </actuator>
    </transmission>
    <gazebo reference="bar_D6">
        <turnGravityOff>false</turnGravityOff>
        <selfCollide>true</selfCollide>
        <!-- TODO material -->
        <!-- <material>chordophones/OakWood</material> -->
        <mu1>50.0</mu1>
        <mu2>50.0</mu2>
        <kp>1000000.0</kp>
        <kd>1.0</kd>
    </gazebo>
    <link name="bar_D6">
        <inertial>
            <mass value="0.03" />
            <origin rpy="0 0 0" xyz="0 0 0" />
            <inertia ixx="0.01" ixy="0" ixz="0" iyy="0.01" iyz="0" izz="0.01" />
        </inertial>
        <visual>
            <origin rpy="0 0 0" xyz="0 0 -0.00925" />
            <geometry>
                <box size="0.2197727272727273 0.0323 0.0185" />
            </geometry>
            <!-- TODO material -->
            <!-- <material name="oak_wood" /> -->
            <material name="marimba_key" />
        </visual>
        <collision>
            <origin rpy="0 0 0" xyz="0 0 -0.00925" />
            <geometry>
                <box size="0.2197727272727273 0.0323 0.0185" />
            </geometry>
        </collision>
    </link>
    <joint name="bar_D6/joint" type="fixed">
        <origin rpy="0 0 0" xyz="0.017426136363636366 0.187 0.0335" />
        <parent link="body_bottom" />
        <child link="bar_D6" />
    </joint>
    <transmission name="bar_D6/joint_transmission">
        <type>transmission_interface/SimpleTransmission</type>
        <joint name="bar_D6/joint">
            <hardwareInterface>hardware_interface/EffortJointInterface</hardwareInterface>
        </joint>
        <actuator name="bar_D6/joint_motor">
            <mechanicalReduction>1</mechanicalReduction>
        </actuator>
    </transmission>
    <gazebo reference="bar_E6">
        <turnGravityOff>false</turnGravityOff>
        <selfCollide>true</selfCollide>
        <!-- TODO material -->
        <!-- <material>chordophones/OakWood</material> -->
        <mu1>50.0</mu1>
        <mu2>50.0</mu2>
        <kp>1000000.0</kp>
        <kd>1.0</kd>
    </gazebo>
    <link name="bar_E6">
        <inertial>
            <mass value="0.03" />
            <origin rpy="0 0 0" xyz="0 0 0" />
            <inertia ixx="0.01" ixy="0" ixz="0" iyy="0.01" iyz="0" izz="0.01" />
        </inertial>
        <visual>
            <origin rpy="0 0 0" xyz="0 0 -0.00925" />
            <geometry>
                <box size="0.21309090909090908 0.0323 0.0185" />
            </geometry>
            <!-- TODO material -->
            <!-- <material name="oak_wood" /> -->
            <material name="marimba_key" />
        </visual>
        <collision>
            <origin rpy="0 0 0" xyz="0 0 -0.00925" />
            <geometry>
                <box size="0.21309090909090908 0.0323 0.0185" />
            </geometry>
        </collision>
    </link>
    <joint name="bar_E6/joint" type="fixed">
        <origin rpy="0 0 0" xyz="0.015254545454545451 0.22680000000000006 0.0335" />
        <parent link="body_bottom" />
        <child link="bar_E6" />
    </joint>
    <transmission name="bar_E6/joint_transmission">
        <type>transmission_interface/SimpleTransmission</type>
        <joint name="bar_E6/joint">
            <hardwareInterface>hardware_interface/EffortJointInterface</hardwareInterface>
        </joint>
        <actuator name="bar_E6/joint_motor">
            <mechanicalReduction>1</mechanicalReduction>
        </actuator>
    </transmission>
    <gazebo reference="bar_F6">
        <turnGravityOff>false</turnGravityOff>
        <selfCollide>true</selfCollide>
        <!-- TODO material -->
        <!-- <material>chordophones/OakWood</material> -->
        <mu1>50.0</mu1>
        <mu2>50.0</mu2>
        <kp>1000000.0</kp>
        <kd>1.0</kd>
    </gazebo>
    <link name="bar_F6">
        <inertial>
            <mass value="0.03" />
            <origin rpy="0 0 0" xyz="0 0 0" />
            <inertia ixx="0.01" ixy="0" ixz="0" iyy="0.01" iyz="0" izz="0.01" />
        </inertial>
        <visual>
            <origin rpy="0 0 0" xyz="0 0 -0.00925" />
            <geometry>
                <box size="0.2064090909090909 0.0323 0.0185" />
            </geometry>
            <!-- TODO material -->
            <!-- <material name="oak_wood" /> -->
            <material name="marimba_key" />
        </visual>
        <collision>
            <origin rpy="0 0 0" xyz="0 0 -0.00925" />
            <geometry>
                <box size="0.2064090909090909 0.0323 0.0185" />
            </geometry>
        </collision>
    </link>
    <joint name="bar_F6/joint" type="fixed">
        <origin rpy="0 0 0" xyz="0.013082954545454543 0.2666000000000001 0.0335" />
        <parent link="body_bottom" />
        <child link="bar_F6" />
    </joint>
    <transmission name="bar_F6/joint_transmission">
        <type>transmission_interface/SimpleTransmission</type>
        <joint name="bar_F6/joint">
            <hardwareInterface>hardware_interface/EffortJointInterface</hardwareInterface>
        </joint>
        <actuator name="bar_F6/joint_motor">
            <mechanicalReduction>1</mechanicalReduction>
        </actuator>
    </transmission>
    <gazebo reference="bar_G6">
        <turnGravityOff>false</turnGravityOff>
        <selfCollide>true</selfCollide>
        <!-- TODO material -->
        <!-- <material>chordophones/OakWood</material> -->
        <mu1>50.0</mu1>
        <mu2>50.0</mu2>
        <kp>1000000.0</kp>
        <kd>1.0</kd>
    </gazebo>
    <link name="bar_G6">
        <inertial>
            <mass value="0.03" />
            <origin rpy="0 0 0" xyz="0 0 0" />
            <inertia ixx="0.01" ixy="0" ixz="0" iyy="0.01" iyz="0" izz="0.01" />
        </inertial>
        <visual>
            <origin rpy="0 0 0" xyz="0 0 -0.00925" />
            <geometry>
                <box size="0.1997272727272727 0.0323 0.0185" />
            </geometry>
            <!-- TODO material -->
            <!-- <material name="oak_wood" /> -->
            <material name="marimba_key" />
        </visual>
        <collision>
            <origin rpy="0 0 0" xyz="0 0 -0.00925" />
            <geometry>
                <box size="0.1997272727272727 0.0323 0.0185" />
            </geometry>
        </collision>
    </link>
    <joint name="bar_G6/joint" type="fixed">
        <origin rpy="0 0 0" xyz="0.010911363636363629 0.30640000000000006 0.0335" />
        <parent link="body_bottom" />
        <child link="bar_G6" />
    </joint>
    <transmission name="bar_G6/joint_transmission">
        <type>transmission_interface/SimpleTransmission</type>
        <joint name="bar_G6/joint">
            <hardwareInterface>hardware_interface/EffortJointInterface</hardwareInterface>
        </joint>
        <actuator name="bar_G6/joint_motor">
            <mechanicalReduction>1</mechanicalReduction>
        </actuator>
    </transmission>
    <gazebo reference="bar_A6">
        <turnGravityOff>false</turnGravityOff>
        <selfCollide>true</selfCollide>
        <!-- TODO material -->
        <!-- <material>chordophones/OakWood</material> -->
        <mu1>50.0</mu1>
        <mu2>50.0</mu2>
        <kp>1000000.0</kp>
        <kd>1.0</kd>
    </gazebo>
    <link name="bar_A6">
        <inertial>
            <mass value="0.03" />
            <origin rpy="0 0 0" xyz="0 0 0" />
            <inertia ixx="0.01" ixy="0" ixz="0" iyy="0.01" iyz="0" izz="0.01" />
        </inertial>
        <visual>
            <origin rpy="0 0 0" xyz="0 0 -0.00925" />
            <geometry>
                <box size="0.19304545454545452 0.0323 0.0185" />
            </geometry>
            <!-- TODO material -->
            <!-- <material name="oak_wood" /> -->
            <material name="marimba_key" />
        </visual>
        <collision>
            <origin rpy="0 0 0" xyz="0 0 -0.00925" />
            <geometry>
                <box size="0.19304545454545452 0.0323 0.0185" />
            </geometry>
        </collision>
    </link>
    <joint name="bar_A6/joint" type="fixed">
        <origin rpy="0 0 0" xyz="0.008739772727272721 0.3462 0.0335" />
        <parent link="body_bottom" />
        <child link="bar_A6" />
    </joint>
    <transmission name="bar_A6/joint_transmission">
        <type>transmission_interface/SimpleTransmission</type>
        <joint name="bar_A6/joint">
            <hardwareInterface>hardware_interface/EffortJointInterface</hardwareInterface>
        </joint>
        <actuator name="bar_A6/joint_motor">
            <mechanicalReduction>1</mechanicalReduction>
        </actuator>
    </transmission>
    <gazebo reference="bar_B6">
        <turnGravityOff>false</turnGravityOff>
        <selfCollide>true</selfCollide>
        <!-- TODO material -->
        <!-- <material>chordophones/OakWood</material> -->
        <mu1>50.0</mu1>
        <mu2>50.0</mu2>
        <kp>1000000.0</kp>
        <kd>1.0</kd>
    </gazebo>
    <link name="bar_B6">
        <inertial>
            <mass value="0.03" />
            <origin rpy="0 0 0" xyz="0 0 0" />
            <inertia ixx="0.01" ixy="0" ixz="0" iyy="0.01" iyz="0" izz="0.01" />
        </inertial>
        <visual>
            <origin rpy="0 0 0" xyz="0 0 -0.00925" />
            <geometry>
                <box size="0.18636363636363637 0.0323 0.0185" />
            </geometry>
            <!-- TODO material -->
            <!-- <material name="oak_wood" /> -->
            <material name="marimba_key" />
        </visual>
        <collision>
            <origin rpy="0 0 0" xyz="0 0 -0.00925" />
            <geometry>
                <box size="0.18636363636363637 0.0323 0.0185" />
            </geometry>
        </collision>
    </link>
    <joint name="bar_B6/joint" type="fixed">
        <origin rpy="0 0 0" xyz="0.006568181818181813 0.38600000000000007 0.0335" />
        <parent link="body_bottom" />
        <child link="bar_B6" />
    </joint>
    <transmission name="bar_B6/joint_transmission">
        <type>transmission_interface/SimpleTransmission</type>
        <joint name="bar_B6/joint">
            <hardwareInterface>hardware_interface/EffortJointInterface</hardwareInterface>
        </joint>
        <actuator name="bar_B6/joint_motor">
            <mechanicalReduction>1</mechanicalReduction>
        </actuator>
    </transmission>
    <gazebo reference="bar_C7">
        <turnGravityOff>false</turnGravityOff>
        <selfCollide>true</selfCollide>
        <!-- TODO material -->
        <!-- <material>chordophones/OakWood</material> -->
        <mu1>50.0</mu1>
        <mu2>50.0</mu2>
        <kp>1000000.0</kp>
        <kd>1.0</kd>
    </gazebo>
    <link name="bar_C7">
        <inertial>
            <mass value="0.03" />
            <origin rpy="0 0 0" xyz="0 0 0" />
            <inertia ixx="0.01" ixy="0" ixz="0" iyy="0.01" iyz="0" izz="0.01" />
        </inertial>
        <visual>
            <origin rpy="0 0 0" xyz="0 0 -0.00925" />
            <geometry>
                <box size="0.17968181818181816 0.0323 0.0185" />
            </geometry>
            <!-- TODO material -->
            <!-- <material name="oak_wood" /> -->
            <material name="marimba_key" />
        </visual>
        <collision>
            <origin rpy="0 0 0" xyz="0 0 -0.00925" />
            <geometry>
                <box size="0.17968181818181816 0.0323 0.0185" />
            </geometry>
        </collision>
    </link>
    <joint name="bar_C7/joint" type="fixed">
        <origin rpy="0 0 0" xyz="0.0043965909090909056 0.4258000000000001 0.0335" />
        <parent link="body_bottom" />
        <child link="bar_C7" />
    </joint>
    <transmission name="bar_C7/joint_transmission">
        <type>transmission_interface/SimpleTransmission</type>
        <joint name="bar_C7/joint">
            <hardwareInterface>hardware_interface/EffortJointInterface</hardwareInterface>
        </joint>
        <actuator name="bar_C7/joint_motor">
            <mechanicalReduction>1</mechanicalReduction>
        </actuator>
    </transmission>
    <gazebo reference="bar_Cs4">
        <turnGravityOff>false</turnGravityOff>
        <selfCollide>true</selfCollide>
        <!-- TODO material -->
        <!-- <material>chordophones/OakWood</material> -->
        <mu1>50.0</mu1>
        <mu2>50.0</mu2>
        <kp>1000000.0</kp>
        <kd>1.0</kd>
    </gazebo>
    <link name="bar_Cs4">
        <inertial>
            <mass value="0.03" />
            <origin rpy="0 0 0" xyz="0 0 0" />
            <inertia ixx="0.01" ixy="0" ixz="0" iyy="0.01" iyz="0" izz="0.01" />
        </inertial>
        <visual>
            <origin rpy="0 0 0" xyz="0 0 -0.00925" />
            <geometry>
                <box size="0.314 0.0323 0.0185" />
            </geometry>
            <!-- TODO material -->
            <!-- <material name="oak_wood" /> -->
            <material name="marimba_key" />
        </visual>
        <collision>
            <origin rpy="0 0 0" xyz="0 0 -0.00925" />
            <geometry>
                <box size="0.314 0.0323 0.0185" />
            </geometry>
        </collision>
    </link>
    <joint name="bar_Cs4/joint" type="fixed">
        <origin rpy="0 0 0" xyz="-0.21 -0.395 0.0669" />
        <parent link="body_top" />
        <child link="bar_Cs4" />
    </joint>
    <transmission name="bar_Cs4/joint_transmission">
        <type>transmission_interface/SimpleTransmission</type>
        <joint name="bar_Cs4/joint">
            <hardwareInterface>hardware_interface/EffortJointInterface</hardwareInterface>
        </joint>
        <actuator name="bar_Cs4/joint_motor">
            <mechanicalReduction>1</mechanicalReduction>
        </actuator>
    </transmission>
    <gazebo reference="bar_Ds4">
        <turnGravityOff>false</turnGravityOff>
        <selfCollide>true</selfCollide>
        <!-- TODO material -->
        <!-- <material>chordophones/OakWood</material> -->
        <mu1>50.0</mu1>
        <mu2>50.0</mu2>
        <kp>1000000.0</kp>
        <kd>1.0</kd>
    </gazebo>
    <link name="bar_Ds4">
        <inertial>
            <mass value="0.03" />
            <origin rpy="0 0 0" xyz="0 0 0" />
            <inertia ixx="0.01" ixy="0" ixz="0" iyy="0.01" iyz="0" izz="0.01" />
        </inertial>
        <visual>
            <origin rpy="0 0 0" xyz="0 0 -0.00925" />
            <geometry>
                <box size="0.30755 0.0323 0.0185" />
            </geometry>
            <!-- TODO material -->
            <!-- <material name="oak_wood" /> -->
            <material name="marimba_key" />
        </visual>
        <collision>
            <origin rpy="0 0 0" xyz="0 0 -0.00925" />
            <geometry>
                <box size="0.30755 0.0323 0.0185" />
            </geometry>
        </collision>
    </link>
    <joint name="bar_Ds4/joint" type="fixed">
        <origin rpy="0 0 0" xyz="-0.20716199999999999 -0.3552 0.0669" />
        <parent link="body_top" />
        <child link="bar_Ds4" />
    </joint>
    <transmission name="bar_Ds4/joint_transmission">
        <type>transmission_interface/SimpleTransmission</type>
        <joint name="bar_Ds4/joint">
            <hardwareInterface>hardware_interface/EffortJointInterface</hardwareInterface>
        </joint>
        <actuator name="bar_Ds4/joint_motor">
            <mechanicalReduction>1</mechanicalReduction>
        </actuator>
    </transmission>
    <gazebo reference="bar_Fs4">
        <turnGravityOff>false</turnGravityOff>
        <selfCollide>true</selfCollide>
        <!-- TODO material -->
        <!-- <material>chordophones/OakWood</material> -->
        <mu1>50.0</mu1>
        <mu2>50.0</mu2>
        <kp>1000000.0</kp>
        <kd>1.0</kd>
    </gazebo>
    <link name="bar_Fs4">
        <inertial>
            <mass value="0.03" />
            <origin rpy="0 0 0" xyz="0 0 0" />
            <inertia ixx="0.01" ixy="0" ixz="0" iyy="0.01" iyz="0" izz="0.01" />
        </inertial>
        <visual>
            <origin rpy="0 0 0" xyz="0 0 -0.00925" />
            <geometry>
                <box size="0.29465 0.0323 0.0185" />
            </geometry>
            <!-- TODO material -->
            <!-- <material name="oak_wood" /> -->
            <material name="marimba_key" />
        </visual>
        <collision>
            <origin rpy="0 0 0" xyz="0 0 -0.00925" />
            <geometry>
                <box size="0.29465 0.0323 0.0185" />
            </geometry>
        </collision>
    </link>
    <joint name="bar_Fs4/joint" type="fixed">
        <origin rpy="0 0 0" xyz="-0.201486 -0.2756 0.0669" />
        <parent link="body_top" />
        <child link="bar_Fs4" />
    </joint>
    <transmission name="bar_Fs4/joint_transmission">
        <type>transmission_interface/SimpleTransmission</type>
        <joint name="bar_Fs4/joint">
            <hardwareInterface>hardware_interface/EffortJointInterface</hardwareInterface>
        </joint>
        <actuator name="bar_Fs4/joint_motor">
            <mechanicalReduction>1</mechanicalReduction>
        </actuator>
    </transmission>
    <gazebo reference="bar_Gs4">
        <turnGravityOff>false</turnGravityOff>
        <selfCollide>true</selfCollide>
        <!-- TODO material -->
        <!-- <material>chordophones/OakWood</material> -->
        <mu1>50.0</mu1>
        <mu2>50.0</mu2>
        <kp>1000000.0</kp>
        <kd>1.0</kd>
    </gazebo>
    <link name="bar_Gs4">
        <inertial>
            <mass value="0.03" />
            <origin rpy="0 0 0" xyz="0 0 0" />
            <inertia ixx="0.01" ixy="0" ixz="0" iyy="0.01" iyz="0" izz="0.01" />
        </inertial>
        <visual>
            <origin rpy="0 0 0" xyz="0 0 -0.00925" />
            <geometry>
                <box size="0.2882 0.0323 0.0185" />
            </geometry>
            <!-- TODO material -->
            <!-- <material name="oak_wood" /> -->
            <material name="marimba_key" />
        </visual>
        <collision>
            <origin rpy="0 0 0" xyz="0 0 -0.00925" />
            <geometry>
                <box size="0.2882 0.0323 0.0185" />
            </geometry>
        </collision>
    </link>
    <joint name="bar_Gs4/joint" type="fixed">
        <origin rpy="0 0 0" xyz="-0.198648 -0.2358 0.0669" />
        <parent link="body_top" />
        <child link="bar_Gs4" />
    </joint>
    <transmission name="bar_Gs4/joint_transmission">
        <type>transmission_interface/SimpleTransmission</type>
        <joint name="bar_Gs4/joint">
            <hardwareInterface>hardware_interface/EffortJointInterface</hardwareInterface>
        </joint>
        <actuator name="bar_Gs4/joint_motor">
            <mechanicalReduction>1</mechanicalReduction>
        </actuator>
    </transmission>
    <gazebo reference="bar_As4">
        <turnGravityOff>false</turnGravityOff>
        <selfCollide>true</selfCollide>
        <!-- TODO material -->
        <!-- <material>chordophones/OakWood</material> -->
        <mu1>50.0</mu1>
        <mu2>50.0</mu2>
        <kp>1000000.0</kp>
        <kd>1.0</kd>
    </gazebo>
    <link name="bar_As4">
        <inertial>
            <mass value="0.03" />
            <origin rpy="0 0 0" xyz="0 0 0" />
            <inertia ixx="0.01" ixy="0" ixz="0" iyy="0.01" iyz="0" izz="0.01" />
        </inertial>
        <visual>
            <origin rpy="0 0 0" xyz="0 0 -0.00925" />
            <geometry>
                <box size="0.28175 0.0323 0.0185" />
            </geometry>
            <!-- TODO material -->
            <!-- <material name="oak_wood" /> -->
            <material name="marimba_key" />
        </visual>
        <collision>
            <origin rpy="0 0 0" xyz="0 0 -0.00925" />
            <geometry>
                <box size="0.28175 0.0323 0.0185" />
            </geometry>
        </collision>
    </link>
    <joint name="bar_As4/joint" type="fixed">
        <origin rpy="0 0 0" xyz="-0.19580999999999998 -0.196 0.0669" />
        <parent link="body_top" />
        <child link="bar_As4" />
    </joint>
    <transmission name="bar_As4/joint_transmission">
        <type>transmission_interface/SimpleTransmission</type>
        <joint name="bar_As4/joint">
            <hardwareInterface>hardware_interface/EffortJointInterface</hardwareInterface>
        </joint>
        <actuator name="bar_As4/joint_motor">
            <mechanicalReduction>1</mechanicalReduction>
        </actuator>
    </transmission>
    <gazebo reference="bar_Cs5">
        <turnGravityOff>false</turnGravityOff>
        <selfCollide>true</selfCollide>
        <!-- TODO material -->
        <!-- <material>chordophones/OakWood</material> -->
        <mu1>50.0</mu1>
        <mu2>50.0</mu2>
        <kp>1000000.0</kp>
        <kd>1.0</kd>
    </gazebo>
    <link name="bar_Cs5">
        <inertial>
            <mass value="0.03" />
            <origin rpy="0 0 0" xyz="0 0 0" />
            <inertia ixx="0.01" ixy="0" ixz="0" iyy="0.01" iyz="0" izz="0.01" />
        </inertial>
        <visual>
            <origin rpy="0 0 0" xyz="0 0 -0.00925" />
            <geometry>
                <box size="0.26885000000000003 0.0323 0.0185" />
            </geometry>
            <!-- TODO material -->
            <!-- <material name="oak_wood" /> -->
            <material name="marimba_key" />
        </visual>
        <collision>
            <origin rpy="0 0 0" xyz="0 0 -0.00925" />
            <geometry>
                <box size="0.26885000000000003 0.0323 0.0185" />
            </geometry>
        </collision>
    </link>
    <joint name="bar_Cs5/joint" type="fixed">
        <origin rpy="0 0 0" xyz="-0.190134 -0.1164 0.0669" />
        <parent link="body_top" />
        <child link="bar_Cs5" />
    </joint>
    <transmission name="bar_Cs5/joint_transmission">
        <type>transmission_interface/SimpleTransmission</type>
        <joint name="bar_Cs5/joint">
            <hardwareInterface>hardware_interface/EffortJointInterface</hardwareInterface>
        </joint>
        <actuator name="bar_Cs5/joint_motor">
            <mechanicalReduction>1</mechanicalReduction>
        </actuator>
    </transmission>
    <gazebo reference="bar_Ds5">
        <turnGravityOff>false</turnGravityOff>
        <selfCollide>true</selfCollide>
        <!-- TODO material -->
        <!-- <material>chordophones/OakWood</material> -->
        <mu1>50.0</mu1>
        <mu2>50.0</mu2>
        <kp>1000000.0</kp>
        <kd>1.0</kd>
    </gazebo>
    <link name="bar_Ds5">
        <inertial>
            <mass value="0.03" />
            <origin rpy="0 0 0" xyz="0 0 0" />
            <inertia ixx="0.01" ixy="0" ixz="0" iyy="0.01" iyz="0" izz="0.01" />
        </inertial>
        <visual>
            <origin rpy="0 0 0" xyz="0 0 -0.00925" />
            <geometry>
                <box size="0.26239999999999997 0.0323 0.0185" />
            </geometry>
            <!-- TODO material -->
            <!-- <material name="oak_wood" /> -->
            <material name="marimba_key" />
        </visual>
        <collision>
            <origin rpy="0 0 0" xyz="0 0 -0.00925" />
            <geometry>
                <box size="0.26239999999999997 0.0323 0.0185" />
            </geometry>
        </collision>
    </link>
    <joint name="bar_Ds5/joint" type="fixed">
        <origin rpy="0 0 0" xyz="-0.187296 -0.0766 0.0669" />
        <parent link="body_top" />
        <child link="bar_Ds5" />
    </joint>
    <transmission name="bar_Ds5/joint_transmission">
        <type>transmission_interface/SimpleTransmission</type>
        <joint name="bar_Ds5/joint">
            <hardwareInterface>hardware_interface/EffortJointInterface</hardwareInterface>
        </joint>
        <actuator name="bar_Ds5/joint_motor">
            <mechanicalReduction>1</mechanicalReduction>
        </actuator>
    </transmission>
    <gazebo reference="bar_Fs5">
        <turnGravityOff>false</turnGravityOff>
        <selfCollide>true</selfCollide>
        <!-- TODO material -->
        <!-- <material>chordophones/OakWood</material> -->
        <mu1>50.0</mu1>
        <mu2>50.0</mu2>
        <kp>1000000.0</kp>
        <kd>1.0</kd>
    </gazebo>
    <link name="bar_Fs5">
        <inertial>
            <mass value="0.03" />
            <origin rpy="0 0 0" xyz="0 0 0" />
            <inertia ixx="0.01" ixy="0" ixz="0" iyy="0.01" iyz="0" izz="0.01" />
        </inertial>
        <visual>
            <origin rpy="0 0 0" xyz="0 0 -0.00925" />
            <geometry>
                <box size="0.2495 0.0323 0.0185" />
            </geometry>
            <!-- TODO material -->
            <!-- <material name="oak_wood" /> -->
            <material name="marimba_key" />
        </visual>
        <collision>
            <origin rpy="0 0 0" xyz="0 0 -0.00925" />
            <geometry>
                <box size="0.2495 0.0323 0.0185" />
            </geometry>
        </collision>
    </link>
    <joint name="bar_Fs5/joint" type="fixed">
        <origin rpy="0 0 0" xyz="-0.18162 0.0030000000000000027 0.0669" />
        <parent link="body_top" />
        <child link="bar_Fs5" />
    </joint>
    <transmission name="bar_Fs5/joint_transmission">
        <type>transmission_interface/SimpleTransmission</type>
        <joint name="bar_Fs5/joint">
            <hardwareInterface>hardware_interface/EffortJointInterface</hardwareInterface>
        </joint>
        <actuator name="bar_Fs5/joint_motor">
            <mechanicalReduction>1</mechanicalReduction>
        </actuator>
    </transmission>
    <gazebo reference="bar_Gs5">
        <turnGravityOff>false</turnGravityOff>
        <selfCollide>true</selfCollide>
        <!-- TODO material -->
        <!-- <material>chordophones/OakWood</material> -->
        <mu1>50.0</mu1>
        <mu2>50.0</mu2>
        <kp>1000000.0</kp>
        <kd>1.0</kd>
    </gazebo>
    <link name="bar_Gs5">
        <inertial>
            <mass value="0.03" />
            <origin rpy="0 0 0" xyz="0 0 0" />
            <inertia ixx="0.01" ixy="0" ixz="0" iyy="0.01" iyz="0" izz="0.01" />
        </inertial>
        <visual>
            <origin rpy="0 0 0" xyz="0 0 -0.00925" />
            <geometry>
                <box size="0.24305 0.0323 0.0185" />
            </geometry>
            <!-- TODO material -->
            <!-- <material name="oak_wood" /> -->
            <material name="marimba_key" />
        </visual>
        <collision>
            <origin rpy="0 0 0" xyz="0 0 -0.00925" />
            <geometry>
                <box size="0.24305 0.0323 0.0185" />
            </geometry>
        </collision>
    </link>
    <joint name="bar_Gs5/joint" type="fixed">
        <origin rpy="0 0 0" xyz="-0.178782 0.042800000000000005 0.0669" />
        <parent link="body_top" />
        <child link="bar_Gs5" />
    </joint>
    <transmission name="bar_Gs5/joint_transmission">
        <type>transmission_interface/SimpleTransmission</type>
        <joint name="bar_Gs5/joint">
            <hardwareInterface>hardware_interface/EffortJointInterface</hardwareInterface>
        </joint>
        <actuator name="bar_Gs5/joint_motor">
            <mechanicalReduction>1</mechanicalReduction>
        </actuator>
    </transmission>
    <gazebo reference="bar_As5">
        <turnGravityOff>false</turnGravityOff>
        <selfCollide>true</selfCollide>
        <!-- TODO material -->
        <!-- <material>chordophones/OakWood</material> -->
        <mu1>50.0</mu1>
        <mu2>50.0</mu2>
        <kp>1000000.0</kp>
        <kd>1.0</kd>
    </gazebo>
    <link name="bar_As5">
        <inertial>
            <mass value="0.03" />
            <origin rpy="0 0 0" xyz="0 0 0" />
            <inertia ixx="0.01" ixy="0" ixz="0" iyy="0.01" iyz="0" izz="0.01" />
        </inertial>
        <visual>
            <origin rpy="0 0 0" xyz="0 0 -0.00925" />
            <geometry>
                <box size="0.2366 0.0323 0.0185" />
            </geometry>
            <!-- TODO material -->
            <!-- <material name="oak_wood" /> -->
            <material name="marimba_key" />
        </visual>
        <collision>
            <origin rpy="0 0 0" xyz="0 0 -0.00925" />
            <geometry>
                <box size="0.2366 0.0323 0.0185" />
            </geometry>
        </collision>
    </link>
    <joint name="bar_As5/joint" type="fixed">
        <origin rpy="0 0 0" xyz="-0.175944 0.0826 0.0669" />
        <parent link="body_top" />
        <child link="bar_As5" />
    </joint>
    <transmission name="bar_As5/joint_transmission">
        <type>transmission_interface/SimpleTransmission</type>
        <joint name="bar_As5/joint">
            <hardwareInterface>hardware_interface/EffortJointInterface</hardwareInterface>
        </joint>
        <actuator name="bar_As5/joint_motor">
            <mechanicalReduction>1</mechanicalReduction>
        </actuator>
    </transmission>
    <gazebo reference="bar_Cs6">
        <turnGravityOff>false</turnGravityOff>
        <selfCollide>true</selfCollide>
        <!-- TODO material -->
        <!-- <material>chordophones/OakWood</material> -->
        <mu1>50.0</mu1>
        <mu2>50.0</mu2>
        <kp>1000000.0</kp>
        <kd>1.0</kd>
    </gazebo>
    <link name="bar_Cs6">
        <inertial>
            <mass value="0.03" />
            <origin rpy="0 0 0" xyz="0 0 0" />
            <inertia ixx="0.01" ixy="0" ixz="0" iyy="0.01" iyz="0" izz="0.01" />
        </inertial>
        <visual>
            <origin rpy="0 0 0" xyz="0 0 -0.00925" />
            <geometry>
                <box size="0.2237 0.0323 0.0185" />
            </geometry>
            <!-- TODO material -->
            <!-- <material name="oak_wood" /> -->
            <material name="marimba_key" />
        </visual>
        <collision>
            <origin rpy="0 0 0" xyz="0 0 -0.00925" />
            <geometry>
                <box size="0.2237 0.0323 0.0185" />
            </geometry>
        </collision>
    </link>
    <joint name="bar_Cs6/joint" type="fixed">
        <origin rpy="0 0 0" xyz="-0.17026799999999997 0.1622 0.0669" />
        <parent link="body_top" />
        <child link="bar_Cs6" />
    </joint>
    <transmission name="bar_Cs6/joint_transmission">
        <type>transmission_interface/SimpleTransmission</type>
        <joint name="bar_Cs6/joint">
            <hardwareInterface>hardware_interface/EffortJointInterface</hardwareInterface>
        </joint>
        <actuator name="bar_Cs6/joint_motor">
            <mechanicalReduction>1</mechanicalReduction>
        </actuator>
    </transmission>
    <gazebo reference="bar_Ds6">
        <turnGravityOff>false</turnGravityOff>
        <selfCollide>true</selfCollide>
        <!-- TODO material -->
        <!-- <material>chordophones/OakWood</material> -->
        <mu1>50.0</mu1>
        <mu2>50.0</mu2>
        <kp>1000000.0</kp>
        <kd>1.0</kd>
    </gazebo>
    <link name="bar_Ds6">
        <inertial>
            <mass value="0.03" />
            <origin rpy="0 0 0" xyz="0 0 0" />
            <inertia ixx="0.01" ixy="0" ixz="0" iyy="0.01" iyz="0" izz="0.01" />
        </inertial>
        <visual>
            <origin rpy="0 0 0" xyz="0 0 -0.00925" />
            <geometry>
                <box size="0.21725 0.0323 0.0185" />
            </geometry>
            <!-- TODO material -->
            <!-- <material name="oak_wood" /> -->
            <material name="marimba_key" />
        </visual>
        <collision>
            <origin rpy="0 0 0" xyz="0 0 -0.00925" />
            <geometry>
                <box size="0.21725 0.0323 0.0185" />
            </geometry>
        </collision>
    </link>
    <joint name="bar_Ds6/joint" type="fixed">
        <origin rpy="0 0 0" xyz="-0.16743 0.20199999999999996 0.0669" />
        <parent link="body_top" />
        <child link="bar_Ds6" />
    </joint>
    <transmission name="bar_Ds6/joint_transmission">
        <type>transmission_interface/SimpleTransmission</type>
        <joint name="bar_Ds6/joint">
            <hardwareInterface>hardware_interface/EffortJointInterface</hardwareInterface>
        </joint>
        <actuator name="bar_Ds6/joint_motor">
            <mechanicalReduction>1</mechanicalReduction>
        </actuator>
    </transmission>
    <gazebo reference="bar_Fs6">
        <turnGravityOff>false</turnGravityOff>
        <selfCollide>true</selfCollide>
        <!-- TODO material -->
        <!-- <material>chordophones/OakWood</material> -->
        <mu1>50.0</mu1>
        <mu2>50.0</mu2>
        <kp>1000000.0</kp>
        <kd>1.0</kd>
    </gazebo>
    <link name="bar_Fs6">
        <inertial>
            <mass value="0.03" />
            <origin rpy="0 0 0" xyz="0 0 0" />
            <inertia ixx="0.01" ixy="0" ixz="0" iyy="0.01" iyz="0" izz="0.01" />
        </inertial>
        <visual>
            <origin rpy="0 0 0" xyz="0 0 -0.00925" />
            <geometry>
                <box size="0.20435 0.0323 0.0185" />
            </geometry>
            <!-- TODO material -->
            <!-- <material name="oak_wood" /> -->
            <material name="marimba_key" />
        </visual>
        <collision>
            <origin rpy="0 0 0" xyz="0 0 -0.00925" />
            <geometry>
                <box size="0.20435 0.0323 0.0185" />
            </geometry>
        </collision>
    </link>
    <joint name="bar_Fs6/joint" type="fixed">
        <origin rpy="0 0 0" xyz="-0.16175399999999998 0.2816000000000001 0.0669" />
        <parent link="body_top" />
        <child link="bar_Fs6" />
    </joint>
    <transmission name="bar_Fs6/joint_transmission">
        <type>transmission_interface/SimpleTransmission</type>
        <joint name="bar_Fs6/joint">
            <hardwareInterface>hardware_interface/EffortJointInterface</hardwareInterface>
        </joint>
        <actuator name="bar_Fs6/joint_motor">
            <mechanicalReduction>1</mechanicalReduction>
        </actuator>
    </transmission>
    <gazebo reference="bar_Gs6">
        <turnGravityOff>false</turnGravityOff>
        <selfCollide>true</selfCollide>
        <!-- TODO material -->
        <!-- <material>chordophones/OakWood</material> -->
        <mu1>50.0</mu1>
        <mu2>50.0</mu2>
        <kp>1000000.0</kp>
        <kd>1.0</kd>
    </gazebo>
    <link name="bar_Gs6">
        <inertial>
            <mass value="0.03" />
            <origin rpy="0 0 0" xyz="0 0 0" />
            <inertia ixx="0.01" ixy="0" ixz="0" iyy="0.01" iyz="0" izz="0.01" />
        </inertial>
        <visual>
            <origin rpy="0 0 0" xyz="0 0 -0.00925" />
            <geometry>
                <box size="0.1979 0.0323 0.0185" />
            </geometry>
            <!-- TODO material -->
            <!-- <material name="oak_wood" /> -->
            <material name="marimba_key" />
        </visual>
        <collision>
            <origin rpy="0 0 0" xyz="0 0 -0.00925" />
            <geometry>
                <box size="0.1979 0.0323 0.0185" />
            </geometry>
        </collision>
    </link>
    <joint name="bar_Gs6/joint" type="fixed">
        <origin rpy="0 0 0" xyz="-0.158916 0.3214 0.0669" />
        <parent link="body_top" />
        <child link="bar_Gs6" />
    </joint>
    <transmission name="bar_Gs6/joint_transmission">
        <type>transmission_interface/SimpleTransmission</type>
        <joint name="bar_Gs6/joint">
            <hardwareInterface>hardware_interface/EffortJointInterface</hardwareInterface>
        </joint>
        <actuator name="bar_Gs6/joint_motor">
            <mechanicalReduction>1</mechanicalReduction>
        </actuator>
    </transmission>
    <gazebo reference="bar_As6">
        <turnGravityOff>false</turnGravityOff>
        <selfCollide>true</selfCollide>
        <!-- TODO material -->
        <!-- <material>chordophones/OakWood</material> -->
        <mu1>50.0</mu1>
        <mu2>50.0</mu2>
        <kp>1000000.0</kp>
        <kd>1.0</kd>
    </gazebo>
    <link name="bar_As6">
        <inertial>
            <mass value="0.03" />
            <origin rpy="0 0 0" xyz="0 0 0" />
            <inertia ixx="0.01" ixy="0" ixz="0" iyy="0.01" iyz="0" izz="0.01" />
        </inertial>
        <visual>
            <origin rpy="0 0 0" xyz="0 0 -0.00925" />
            <geometry>
                <box size="0.19145 0.0323 0.0185" />
            </geometry>
            <!-- TODO material -->
            <!-- <material name="oak_wood" /> -->
            <material name="marimba_key" />
        </visual>
        <collision>
            <origin rpy="0 0 0" xyz="0 0 -0.00925" />
            <geometry>
                <box size="0.19145 0.0323 0.0185" />
            </geometry>
        </collision>
    </link>
    <joint name="bar_As6/joint" type="fixed">
        <origin rpy="0 0 0" xyz="-0.156078 0.36119999999999997 0.0669" />
        <parent link="body_top" />
        <child link="bar_As6" />
    </joint>
    <transmission name="bar_As6/joint_transmission">
        <type>transmission_interface/SimpleTransmission</type>
        <joint name="bar_As6/joint">
            <hardwareInterface>hardware_interface/EffortJointInterface</hardwareInterface>
        </joint>
        <actuator name="bar_As6/joint_motor">
            <mechanicalReduction>1</mechanicalReduction>
        </actuator>
    </transmission>
    <link name="ur5_base_link">
        <visual>
            <geometry>
                <mesh filename="package://ur_description/meshes/ur5/visual/base.dae" />
            </geometry>
            <material name="LightGrey">
                <color rgba="0.7 0.7 0.7 1.0" />
            </material>
        </visual>
        <collision>
            <geometry>
                <mesh filename="package://ur_description/meshes/ur5/collision/base.stl" />
            </geometry>
        </collision>
        <inertial>
            <mass value="4.0" />
            <origin rpy="0 0 0" xyz="0.0 0.0 0.0" />
            <inertia ixx="0.00443333156" ixy="0.0" ixz="0.0" iyy="0.00443333156" iyz="0.0" izz="0.0072" />
        </inertial>
    </link>
    <joint name="ur5_shoulder_pan_joint" type="revolute">
        <parent link="ur5_base_link" />
        <child link="ur5_shoulder_link" />
        <origin rpy="0.0 0.0 0.0" xyz="0.0 0.0 0.089159" />
        <axis xyz="0 0 1" />
        <limit effort="150.0" lower="-6.2811853" upper="6.2811853" velocity="3.15" />
        <dynamics damping="0.0" friction="0.0" />
    </joint>
    <link name="ur5_shoulder_link">
        <visual>
            <geometry>
                <mesh filename="package://ur_description/meshes/ur5/visual/shoulder.dae" />
            </geometry>
            <material name="LightGrey">
                <color rgba="0.7 0.7 0.7 1.0" />
            </material>
        </visual>
        <collision>
            <geometry>
                <mesh filename="package://ur_description/meshes/ur5/collision/shoulder.stl" />
            </geometry>
        </collision>
        <inertial>
            <mass value="3.7" />
            <origin rpy="0 0 0" xyz="0.0 0.0 0.0" />
            <inertia ixx="0.010267495893" ixy="0.0" ixz="0.0" iyy="0.010267495893" iyz="0.0" izz="0.00666" />
        </inertial>
    </link>
    <joint name="ur5_shoulder_lift_joint" type="revolute">
        <parent link="ur5_shoulder_link" />
        <child link="ur5_upper_arm_link" />
        <origin rpy="0.0 1.5707963267948966 0.0" xyz="0.0 0.13585 0.0" />
        <axis xyz="0 1 0" />
        <limit effort="150.0" lower="-6.2811853" upper="6.2811853" velocity="3.15" />
        <dynamics damping="0.0" friction="0.0" />
    </joint>
    <link name="ur5_upper_arm_link">
        <visual>
            <geometry>
                <mesh filename="package://ur_description/meshes/ur5/visual/upperarm.dae" />
            </geometry>
            <material name="LightGrey">
                <color rgba="0.7 0.7 0.7 1.0" />
            </material>
        </visual>
        <collision>
            <geometry>
                <mesh filename="package://ur_description/meshes/ur5/collision/upperarm.stl" />
            </geometry>
        </collision>
        <inertial>
            <mass value="8.393" />
            <origin rpy="0 0 0" xyz="0.0 0.0 0.28" />
            <inertia ixx="0.22689067591036005" ixy="0.0" ixz="0.0" iyy="0.22689067591036005" iyz="0.0" izz="0.0151074" />
        </inertial>
    </link>
    <joint name="ur5_elbow_joint" type="revolute">
        <parent link="ur5_upper_arm_link" />
        <child link="ur5_forearm_link" />
        <origin rpy="0.0 0.0 0.0" xyz="0.0 -0.1197 0.425" />
        <axis xyz="0 1 0" />
        <limit effort="150.0" lower="-3.1415926" upper="3.1415926" velocity="3.15" />
        <dynamics damping="0.0" friction="0.0" />
    </joint>
    <link name="ur5_forearm_link">
        <visual>
            <geometry>
                <mesh filename="package://ur_description/meshes/ur5/visual/forearm.dae" />
            </geometry>
            <material name="LightGrey">
                <color rgba="0.7 0.7 0.7 1.0" />
            </material>
        </visual>
        <collision>
            <geometry>
                <mesh filename="package://ur_description/meshes/ur5/collision/forearm.stl" />
            </geometry>
        </collision>
        <inertial>
            <mass value="2.275" />
            <origin rpy="0 0 0" xyz="0.0 0.0 0.25" />
            <inertia ixx="0.04944331355599999" ixy="0.0" ixz="0.0" iyy="0.04944331355599999" iyz="0.0" izz="0.004095" />
        </inertial>
    </link>
    <joint name="ur5_wrist_1_joint" type="revolute">
        <parent link="ur5_forearm_link" />
        <child link="ur5_wrist_1_link" />
        <origin rpy="0.0 1.5707963267948966 0.0" xyz="0.0 0.0 0.39225" />
        <axis xyz="0 1 0" />
        <limit effort="28.0" lower="-6.2811853" upper="6.2811853" velocity="3.2" />
        <dynamics damping="0.0" friction="0.0" />
    </joint>
    <link name="ur5_wrist_1_link">
        <visual>
            <geometry>
                <mesh filename="package://ur_description/meshes/ur5/visual/wrist1.dae" />
            </geometry>
            <material name="LightGrey">
                <color rgba="0.7 0.7 0.7 1.0" />
            </material>
        </visual>
        <collision>
            <geometry>
                <mesh filename="package://ur_description/meshes/ur5/collision/wrist1.stl" />
            </geometry>
        </collision>
        <inertial>
            <mass value="1.219" />
            <origin rpy="0 0 0" xyz="0.0 0.0 0.0" />
            <inertia ixx="0.11117275553087999" ixy="0.0" ixz="0.0" iyy="0.11117275553087999" iyz="0.0" izz="0.21942" />
        </inertial>
    </link>
    <joint name="ur5_wrist_2_joint" type="revolute">
        <parent link="ur5_wrist_1_link" />
        <child link="ur5_wrist_2_link" />
        <origin rpy="0.0 0.0 0.0" xyz="0.0 0.093 0.0" />
        <axis xyz="0 0 1" />
        <limit effort="28.0" lower="-3.1415926" upper="3.1415926" velocity="3.2" />
        <dynamics damping="0.0" friction="0.0" />
    </joint>
    <link name="ur5_wrist_2_link">
        <visual>
            <geometry>
                <mesh filename="package://tams_ur5_description/meshes/ur5/visual/wrist2_rounded.dae" />
            </geometry>
            <material name="LightGrey">
                <color rgba="0.7 0.7 0.7 1.0" />
            </material>
        </visual>
        <collision>
            <geometry>
                <mesh filename="package://tams_ur5_description/meshes/ur5/collision/wrist2_rounded.stl" />
            </geometry>
        </collision>
        <inertial>
            <mass value="1.219" />
            <origin rpy="0 0 0" xyz="0.0 0.0 0.0" />
            <inertia ixx="0.11117275553087999" ixy="0.0" ixz="0.0" iyy="0.11117275553087999" iyz="0.0" izz="0.21942" />
        </inertial>
    </link>
    <joint name="ur5_wrist_3_joint" type="revolute">
        <parent link="ur5_wrist_2_link" />
        <child link="ur5_wrist_3_link" />
        <origin rpy="0.0 0.0 0.0" xyz="0.0 0.0 0.09465" />
        <axis xyz="0 1 0" />
        <limit effort="28.0" lower="-6.2811853" upper="6.2811853" velocity="3.2" />
        <dynamics damping="0.0" friction="0.0" />
    </joint>
    <link name="ur5_wrist_3_link">
        <visual>
            <geometry>
                <mesh filename="package://ur_description/meshes/ur5/visual/wrist3.dae" />
            </geometry>
            <material name="LightGrey">
                <color rgba="0.7 0.7 0.7 1.0" />
            </material>
        </visual>
        <collision>
            <geometry>
                <mesh filename="package://ur_description/meshes/ur5/collision/wrist3.stl" />
            </geometry>
        </collision>
        <inertial>
            <mass value="0.1879" />
            <origin rpy="0 0 0" xyz="0.0 0.0 0.0" />
            <inertia ixx="0.017136473145408" ixy="0.0" ixz="0.0" iyy="0.017136473145408" iyz="0.0" izz="0.033822" />
        </inertial>
    </link>
    <joint name="ur5_ee_fixed_joint" type="fixed">
        <parent link="ur5_wrist_3_link" />
        <child link="ur5_ee_link" />
        <origin rpy="0.0 0.0 1.5707963267948966" xyz="0.0 0.0823 0.0" />
    </joint>
    <link name="ur5_ee_link">
        <collision>
            <geometry>
                <box size="0.01 0.01 0.01" />
            </geometry>
            <origin rpy="0 0 0" xyz="-0.01 0 0" />
        </collision>
        <inertial>
            <mass value="0.1" />
            <origin xyz="0 0 0" rpy="0 0 0" />
            <inertia ixx="0.03" iyy="0.03" izz="0.03" ixy="0.0" ixz="0.0" iyz="0.0" />
        </inertial>
    </link>
    <!-- fnh: we don't want these, and especially not hidden here 
    <xacro:ur_arm_transmission prefix="${prefix}"/>
    <xacro:ur_arm_gazebo prefix="${prefix}" />
    -->
    <!-- ROS base_link to UR 'Base' Coordinates transform -->
    <link name="ur5_base" />
    <joint name="ur5_base_link-base_fixed_joint" type="fixed">
        <!-- NOTE: this rotation is only needed as long as base_link itself is
                 not corrected wrt the real robot (ie: rotated over 180
                 degrees)
      -->
        <origin rpy="0 0 -3.141592653589793" xyz="0 0 0" />
        <parent link="ur5_base_link" />
        <child link="ur5_base" />
    </joint>
    <!-- Frame coincident with all-zeros TCP on UR controller -->
    <link name="ur5_tool0" />
    <joint name="ur5_wrist_3_link-tool0_fixed_joint" type="fixed">
        <origin rpy="-1.5707963267948966 0 0" xyz="0 0.0823 0" />
        <parent link="ur5_wrist_3_link" />
        <child link="ur5_tool0" />
    </joint>
    <link name="ft_adapter">
        <!-- TODO values for inertial are not correct -->
        <inertial>
            <mass value="0.2" />
            <origin xyz="0.0 0.0 0.0" rpy="0 0 0" />
            <inertia ixx="0.002708332" ixy="0.0" ixz="0.0" iyy="0.000708333" iyz="0.0" izz="0.003333332" />
        </inertial>
        <visual>
            <origin rpy="0 0 0.0" xyz="0.0 0 0.0" />
            <geometry>
                <box size="0.088 0.088 0.009" />
            </geometry>
            <material name="gray">
                <color rgba="0.2 0.2 0.2 1" />
            </material>
        </visual>
        <collision>
            <origin rpy="0 0 0.0" xyz="0.0 0 0.0" />
            <geometry>
                <box size="0.088 0.088 0.009" />
            </geometry>
        </collision>
    </link>
    <joint name="ft_adapter_joint" type="fixed">
        <origin rpy="0.0 1.5707963267948966 0.0" xyz="0.0045 0.0 0.0" />
        <child link="ft_adapter" />
        <parent link="ur5_ee_link" />
    </joint>
    <!-- mount the fts to the robot -->
    <joint name="ft_fts_fix" type="fixed">
        <!--In most cases origin would be flange adapter plate: <origin xyz="0 0 0.009" rpy="0 0 0"/> /-->
        <origin rpy="0.0 -1.5707963267948966 3.141592653589793" xyz="0.009 0.0 0.0" />
        <parent link="ur5_ee_link" />
        <child link="ft_fts_robotside" />
    </joint>
    <link name="ft_fts_robotside">
        <inertial>
            <origin rpy="0 0 0" xyz="0 0 0.01875" />
            <mass value="0.65" />
            <inertia ixx="0.000661171875" ixy="0" ixz="0" iyy="0.000661171875" iyz="0" izz="0.00117" />
        </inertial>
        <visual>
            <origin rpy="0 0 0" xyz="0 0 0" />
            <geometry>
                <mesh filename="package://robotiq_ft_sensor/meshes/visual/robotiq_fts150.stl" />
            </geometry>
            <material name="black" />
        </visual>
        <collision>
            <origin rpy="0 0 0" xyz="0 0 0" />
            <geometry>
                <mesh filename="package://robotiq_ft_sensor/meshes/collision/robotiq_fts150.stl" />
            </geometry>
        </collision>
    </link>
    <!-- virtual measurement frame -->
    <joint name="ft_measurment_joint" type="fixed">
        <origin rpy="0 0 0" xyz="0 0 0.01625" />
        <parent link="ft_fts_robotside" />
        <child link="ft_robotiq_ft_frame_id" />
    </joint>
    <link name="ft_robotiq_ft_frame_id" />
    <!-- toolside frame -->
    <joint name="ft_toolside_joint" type="fixed">
        <origin rpy="0 0 0" xyz="0 0 0.0375" />
        <parent link="ft_fts_robotside" />
        <child link="ft_fts_toolside" />
    </joint>
    <link name="ft_fts_toolside" />
    <!-- tool0 frame -->
    <link name="tool0" />
    <joint name="ft_fts_toolside_tool0" type="fixed">
        <parent link="ft_fts_toolside" />
        <child link="tool0" />
        <origin rpy="0.0 -1.5707963267948966 0.0" xyz="0.0 0.0 0.0205" />
    </joint>
    <link name="s_model_adapter">
        <!-- TODO values for inertial are not correct -->
        <inertial>
            <mass value="0.2" />
            <origin xyz="0.0 0.0 0.0" rpy="0 0 0" />
            <inertia ixx="0.002708332" ixy="0.0" ixz="0.0" iyy="0.000708333" iyz="0.0" izz="0.003333332" />
        </inertial>
        <visual>
            <origin rpy="0 0 0.0" xyz="0.0 0 0.0" />
            <geometry>
                <cylinder length="0.035" radius="0.06" />
            </geometry>
            <material name="gray">
                <color rgba="0.2 0.2 0.2 1" />
            </material>
        </visual>
        <visual>
            <origin rpy="0 0 0.0" xyz="0.0725 0 0" />
            <geometry>
                <box size="0.035 0.035 0.035" />
            </geometry>
            <material name="gray">
                <color rgba="0.2 0.2 0.2 1" />
            </material>
        </visual>
        <collision>
            <origin rpy="0 0 0.0" xyz="0.0 0 0.0" />
            <geometry>
                <cylinder length="0.035" radius="0.06" />
            </geometry>
        </collision>
        <collision>
            <origin rpy="0 0 0.0" xyz="0.0725 0 0" />
            <geometry>
                <box size="0.035 0.035 0.035" />
            </geometry>
        </collision>
    </link>
    <joint name="s_model_adapter_joint" type="fixed">
        <origin rpy="0.0 0.0 0.0" xyz="0.0 0.0 0.015" />
        <child link="s_model_adapter" />
        <parent link="ft_fts_toolside" />
    </joint>
    <!-- link list -->
    <link name="s_model_finger_1_link_0">
        <visual>
            <origin rpy="0 0 0" xyz="0.020 0 0" />
            <geometry>
                <mesh filename="package://robotiq_3f_gripper_visualization/meshes/robotiq-3f-gripper_articulated/visual/link_0.dae" />
            </geometry>
            <material name="gray">
                <color rgba="0.2 0.2 0.2 1" />
            </material>
        </visual>
        <collision>
            <origin rpy="0 0 0" xyz="0.020 0 0" />
            <geometry>
                <mesh filename="package://robotiq_3f_gripper_visualization/meshes/robotiq-3f-gripper_articulated/collision/link_0.STL" />
            </geometry>
            <material name="yellow">
                <color rgba="0 1 1 1" />
            </material>
        </collision>
        <inertial>
            <origin rpy="0 0 0" xyz="0 0 0" />
            <mass value="0.05" />
            <inertia ixx="0.01" ixy="-0.00002" ixz="0.00001" iyy="0.0008" iyz="0" izz="0.001" />
        </inertial>
    </link>
    <link name="s_model_finger_1_link_1">
        <visual>
            <origin rpy="0 0 -0.52" xyz="0.050 -.028 0" />
            <geometry>
                <mesh filename="package://robotiq_3f_gripper_visualization/meshes/robotiq-3f-gripper_articulated/visual/link_1.dae" />
            </geometry>
            <material name="gray" />
        </visual>
        <collision>
            <origin rpy="0 0 -0.52" xyz="0.050 -.028 0" />
            <geometry>
                <mesh filename="package://robotiq_3f_gripper_visualization/meshes/robotiq-3f-gripper_articulated/collision/link_1.STL" />
            </geometry>
            <material name="yellow" />
        </collision>
        <inertial>
            <origin rpy="0 0 0" xyz="0 0 0" />
            <mass value="0.15" />
            <inertia ixx="0.001859" ixy="-0.000376" ixz="0.000028" iyy="0.012756" iyz="0" izz="0.0024" />
        </inertial>
    </link>
    <link name="s_model_finger_1_link_2">
        <!--
			NOTE: This link has an offset in the z-direction based on the models that were
			used to generate grap-it poses.  With the offset below the model appears visually
			correct, but it is suspect.
			-->
        <visual>
            <origin rpy="0 0 0" xyz="0.039 0 0.0075" />
            <geometry>
                <mesh filename="package://robotiq_3f_gripper_visualization/meshes/robotiq-3f-gripper_articulated/visual/link_2.dae" />
            </geometry>
            <material name="gray" />
        </visual>
        <collision>
            <origin rpy="0 0 0" xyz="0.039 0 0.0075" />
            <geometry>
                <mesh filename="package://robotiq_3f_gripper_visualization/meshes/robotiq-3f-gripper_articulated/collision/link_2.STL" />
            </geometry>
            <material name="yellow" />
        </collision>
        <inertial>
            <origin rpy="0 0 0" xyz="0 0 0" />
            <mass value="0.15" />
            <inertia ixx="0.001859" ixy="-0.000376" ixz="0.000028" iyy="0.012756" iyz="0" izz="0.0024" />
        </inertial>
    </link>
    <link name="s_model_finger_1_link_3">
        <visual>
            <origin rpy="0 0 0.52" xyz="0 0 0" />
            <geometry>
                <mesh filename="package://robotiq_3f_gripper_visualization/meshes/robotiq-3f-gripper_articulated/visual/link_3.dae" />
            </geometry>
            <material name="gray" />
        </visual>
        <collision>
            <origin rpy="0 0 0.52" xyz="0 0 0" />
            <geometry>
                <mesh filename="package://robotiq_3f_gripper_visualization/meshes/robotiq-3f-gripper_articulated/collision/link_3.STL" />
            </geometry>
            <material name="yellow" />
        </collision>
        <inertial>
            <origin rpy="0 0 0" xyz="0 0 0" />
            <mass value="0.05" />
            <inertia ixx="0.001239" ixy="-0.000251" ixz="0.000019" iyy="0.00085" iyz="0" izz="0.001632" />
        </inertial>
    </link>
    <!-- end of link list -->
    <!-- joint list -->
    <joint name="s_model_finger_1_joint_1" type="revolute">
        <parent link="s_model_finger_1_link_0" />
        <child link="s_model_finger_1_link_1" />
        <axis xyz="0 0 1" />
        <origin rpy="0 0 0" xyz="0.020 0 0" />
        <!-- fnh: velocity=100 is far too fast. We also want some damping for Gazebo -->
        <limit effort="100" lower="0.0495" upper="1.2218" velocity="1.23" />
        <dynamics damping="1" friction="0.1" />
    </joint>
    <joint name="s_model_finger_1_joint_2" type="revolute">
        <parent link="s_model_finger_1_link_1" />
        <child link="s_model_finger_1_link_2" />
        <axis xyz="0 0 1" />
        <origin rpy="0 0 -0.52" xyz="0.050 -.028 0" />
        <limit effort="100" lower="0.0" upper="1.5708" velocity="1.24" />
        <dynamics damping="1" friction="0.1" />
    </joint>
    <joint name="s_model_finger_1_joint_3" type="revolute">
        <parent link="s_model_finger_1_link_2" />
        <child link="s_model_finger_1_link_3" />
        <axis xyz="0 0 1" />
        <origin rpy="0 0 0" xyz="0.039 0 0" />
        <limit effort="100" lower="-1.2217" upper="-0.0523" velocity="1.25" />
        <dynamics damping="1" friction="0.1" />
    </joint>
    <!-- end of joint list -->
    <!-- link list -->
    <link name="s_model_finger_2_link_0">
        <visual>
            <origin rpy="0 0 0" xyz="0.020 0 0" />
            <geometry>
                <mesh filename="package://robotiq_3f_gripper_visualization/meshes/robotiq-3f-gripper_articulated/visual/link_0.dae" />
            </geometry>
            <material name="gray">
                <color rgba="0.2 0.2 0.2 1" />
            </material>
        </visual>
        <collision>
            <origin rpy="0 0 0" xyz="0.020 0 0" />
            <geometry>
                <mesh filename="package://robotiq_3f_gripper_visualization/meshes/robotiq-3f-gripper_articulated/collision/link_0.STL" />
            </geometry>
            <material name="yellow">
                <color rgba="0 1 1 1" />
            </material>
        </collision>
        <inertial>
            <origin rpy="0 0 0" xyz="0 0 0" />
            <mass value="0.05" />
            <inertia ixx="0.01" ixy="-0.00002" ixz="0.00001" iyy="0.0008" iyz="0" izz="0.001" />
        </inertial>
    </link>
    <link name="s_model_finger_2_link_1">
        <visual>
            <origin rpy="0 0 -0.52" xyz="0.050 -.028 0" />
            <geometry>
                <mesh filename="package://robotiq_3f_gripper_visualization/meshes/robotiq-3f-gripper_articulated/visual/link_1.dae" />
            </geometry>
            <material name="gray" />
        </visual>
        <collision>
            <origin rpy="0 0 -0.52" xyz="0.050 -.028 0" />
            <geometry>
                <mesh filename="package://robotiq_3f_gripper_visualization/meshes/robotiq-3f-gripper_articulated/collision/link_1.STL" />
            </geometry>
            <material name="yellow" />
        </collision>
        <inertial>
            <origin rpy="0 0 0" xyz="0 0 0" />
            <mass value="0.15" />
            <inertia ixx="0.001859" ixy="-0.000376" ixz="0.000028" iyy="0.012756" iyz="0" izz="0.0024" />
        </inertial>
    </link>
    <link name="s_model_finger_2_link_2">
        <!--
			NOTE: This link has an offset in the z-direction based on the models that were
			used to generate grap-it poses.  With the offset below the model appears visually
			correct, but it is suspect.
			-->
        <visual>
            <origin rpy="0 0 0" xyz="0.039 0 0.0075" />
            <geometry>
                <mesh filename="package://robotiq_3f_gripper_visualization/meshes/robotiq-3f-gripper_articulated/visual/link_2.dae" />
            </geometry>
            <material name="gray" />
        </visual>
        <collision>
            <origin rpy="0 0 0" xyz="0.039 0 0.0075" />
            <geometry>
                <mesh filename="package://robotiq_3f_gripper_visualization/meshes/robotiq-3f-gripper_articulated/collision/link_2.STL" />
            </geometry>
            <material name="yellow" />
        </collision>
        <inertial>
            <origin rpy="0 0 0" xyz="0 0 0" />
            <mass value="0.15" />
            <inertia ixx="0.001859" ixy="-0.000376" ixz="0.000028" iyy="0.012756" iyz="0" izz="0.0024" />
        </inertial>
    </link>
    <link name="s_model_finger_2_link_3">
        <visual>
            <origin rpy="0 0 0.52" xyz="0 0 0" />
            <geometry>
                <mesh filename="package://robotiq_3f_gripper_visualization/meshes/robotiq-3f-gripper_articulated/visual/link_3.dae" />
            </geometry>
            <material name="gray" />
        </visual>
        <collision>
            <origin rpy="0 0 0.52" xyz="0 0 0" />
            <geometry>
                <mesh filename="package://robotiq_3f_gripper_visualization/meshes/robotiq-3f-gripper_articulated/collision/link_3.STL" />
            </geometry>
            <material name="yellow" />
        </collision>
        <inertial>
            <origin rpy="0 0 0" xyz="0 0 0" />
            <mass value="0.05" />
            <inertia ixx="0.001239" ixy="-0.000251" ixz="0.000019" iyy="0.00085" iyz="0" izz="0.001632" />
        </inertial>
    </link>
    <!-- end of link list -->
    <!-- joint list -->
    <joint name="s_model_finger_2_joint_1" type="revolute">
        <parent link="s_model_finger_2_link_0" />
        <child link="s_model_finger_2_link_1" />
        <axis xyz="0 0 1" />
        <origin rpy="0 0 0" xyz="0.020 0 0" />
        <!-- fnh: velocity=100 is far too fast. We also want some damping for Gazebo -->
        <limit effort="100" lower="0.0495" upper="1.2218" velocity="1.23" />
        <dynamics damping="1" friction="0.1" />
    </joint>
    <joint name="s_model_finger_2_joint_2" type="revolute">
        <parent link="s_model_finger_2_link_1" />
        <child link="s_model_finger_2_link_2" />
        <axis xyz="0 0 1" />
        <origin rpy="0 0 -0.52" xyz="0.050 -.028 0" />
        <limit effort="100" lower="0.0" upper="1.5708" velocity="1.24" />
        <dynamics damping="1" friction="0.1" />
    </joint>
    <joint name="s_model_finger_2_joint_3" type="revolute">
        <parent link="s_model_finger_2_link_2" />
        <child link="s_model_finger_2_link_3" />
        <axis xyz="0 0 1" />
        <origin rpy="0 0 0" xyz="0.039 0 0" />
        <limit effort="100" lower="-1.2217" upper="-0.0523" velocity="1.25" />
        <dynamics damping="1" friction="0.1" />
    </joint>
    <!-- end of joint list -->
    <!-- link list -->
    <link name="s_model_finger_middle_link_0">
        <visual>
            <origin rpy="0 0 0" xyz="0.020 0 0" />
            <geometry>
                <mesh filename="package://robotiq_3f_gripper_visualization/meshes/robotiq-3f-gripper_articulated/visual/link_0.dae" />
            </geometry>
            <material name="gray">
                <color rgba="0.2 0.2 0.2 1" />
            </material>
        </visual>
        <collision>
            <origin rpy="0 0 0" xyz="0.020 0 0" />
            <geometry>
                <mesh filename="package://robotiq_3f_gripper_visualization/meshes/robotiq-3f-gripper_articulated/collision/link_0.STL" />
            </geometry>
            <material name="yellow">
                <color rgba="0 1 1 1" />
            </material>
        </collision>
        <inertial>
            <origin rpy="0 0 0" xyz="0 0 0" />
            <mass value="0.05" />
            <inertia ixx="0.01" ixy="-0.00002" ixz="0.00001" iyy="0.0008" iyz="0" izz="0.001" />
        </inertial>
    </link>
    <link name="s_model_finger_middle_link_1">
        <visual>
            <origin rpy="0 0 -0.52" xyz="0.050 -.028 0" />
            <geometry>
                <mesh filename="package://robotiq_3f_gripper_visualization/meshes/robotiq-3f-gripper_articulated/visual/link_1.dae" />
            </geometry>
            <material name="gray" />
        </visual>
        <collision>
            <origin rpy="0 0 -0.52" xyz="0.050 -.028 0" />
            <geometry>
                <mesh filename="package://robotiq_3f_gripper_visualization/meshes/robotiq-3f-gripper_articulated/collision/link_1.STL" />
            </geometry>
            <material name="yellow" />
        </collision>
        <inertial>
            <origin rpy="0 0 0" xyz="0 0 0" />
            <mass value="0.15" />
            <inertia ixx="0.001859" ixy="-0.000376" ixz="0.000028" iyy="0.012756" iyz="0" izz="0.0024" />
        </inertial>
    </link>
    <link name="s_model_finger_middle_link_2">
        <!--
			NOTE: This link has an offset in the z-direction based on the models that were
			used to generate grap-it poses.  With the offset below the model appears visually
			correct, but it is suspect.
			-->
        <visual>
            <origin rpy="0 0 0" xyz="0.039 0 0.0075" />
            <geometry>
                <mesh filename="package://robotiq_3f_gripper_visualization/meshes/robotiq-3f-gripper_articulated/visual/link_2.dae" />
            </geometry>
            <material name="gray" />
        </visual>
        <collision>
            <origin rpy="0 0 0" xyz="0.039 0 0.0075" />
            <geometry>
                <mesh filename="package://robotiq_3f_gripper_visualization/meshes/robotiq-3f-gripper_articulated/collision/link_2.STL" />
            </geometry>
            <material name="yellow" />
        </collision>
        <inertial>
            <origin rpy="0 0 0" xyz="0 0 0" />
            <mass value="0.15" />
            <inertia ixx="0.001859" ixy="-0.000376" ixz="0.000028" iyy="0.012756" iyz="0" izz="0.0024" />
        </inertial>
    </link>
    <link name="s_model_finger_middle_link_3">
        <visual>
            <origin rpy="0 0 0.52" xyz="0 0 0" />
            <geometry>
                <mesh filename="package://robotiq_3f_gripper_visualization/meshes/robotiq-3f-gripper_articulated/visual/link_3.dae" />
            </geometry>
            <material name="gray" />
        </visual>
        <collision>
            <origin rpy="0 0 0.52" xyz="0 0 0" />
            <geometry>
                <mesh filename="package://robotiq_3f_gripper_visualization/meshes/robotiq-3f-gripper_articulated/collision/link_3.STL" />
            </geometry>
            <material name="yellow" />
        </collision>
        <inertial>
            <origin rpy="0 0 0" xyz="0 0 0" />
            <mass value="0.05" />
            <inertia ixx="0.001239" ixy="-0.000251" ixz="0.000019" iyy="0.00085" iyz="0" izz="0.001632" />
        </inertial>
    </link>
    <!-- end of link list -->
    <!-- joint list -->
    <joint name="s_model_finger_middle_joint_1" type="revolute">
        <parent link="s_model_finger_middle_link_0" />
        <child link="s_model_finger_middle_link_1" />
        <axis xyz="0 0 1" />
        <origin rpy="0 0 0" xyz="0.020 0 0" />
        <!-- fnh: velocity=100 is far too fast. We also want some damping for Gazebo -->
        <limit effort="100" lower="0.0495" upper="1.2218" velocity="1.23" />
        <dynamics damping="1" friction="0.1" />
    </joint>
    <joint name="s_model_finger_middle_joint_2" type="revolute">
        <parent link="s_model_finger_middle_link_1" />
        <child link="s_model_finger_middle_link_2" />
        <axis xyz="0 0 1" />
        <origin rpy="0 0 -0.52" xyz="0.050 -.028 0" />
        <limit effort="100" lower="0.0" upper="1.5708" velocity="1.24" />
        <dynamics damping="1" friction="0.1" />
    </joint>
    <joint name="s_model_finger_middle_joint_3" type="revolute">
        <parent link="s_model_finger_middle_link_2" />
        <child link="s_model_finger_middle_link_3" />
        <axis xyz="0 0 1" />
        <origin rpy="0 0 0" xyz="0.039 0 0" />
        <limit effort="100" lower="-1.2217" upper="-0.0523" velocity="1.25" />
        <dynamics damping="1" friction="0.1" />
    </joint>
    <!-- end of joint list -->
    <!-- link list -->
    <link name="s_model_palm">
        <visual>
            <geometry>
                <mesh filename="package://robotiq_3f_gripper_visualization/meshes/robotiq-3f-gripper_articulated/visual/palm.dae" />
            </geometry>
            <material name="gray">
                <color rgba="0.2 0.2 0.2 1" />
            </material>
        </visual>
        <collision>
            <geometry>
                <mesh filename="package://robotiq_3f_gripper_visualization/meshes/robotiq-3f-gripper_articulated/collision/palm_with_finger_cutouts.stl" />
            </geometry>
            <material name="yellow">
                <color rgba="0 1 1 1" />
            </material>
        </collision>
        <inertial>
            <mass value="0.1" />
            <origin xyz="0 0 0" rpy="0 0 0" />
            <inertia ixx="0.03" iyy="0.03" izz="0.03" ixy="0.0" ixz="0.0" iyz="0.0" />
        </inertial>
    </link>
    <link name="s_model_tool0" />
    <inertial>
        <origin rpy="0 0 0" xyz="0 0 0" />
        <mass value="1.3" />
        <inertia ixx="0.006012" ixy="0.000079" ixz="-0.00024" iyy="0.012892" iyz="0" izz="0.002435" />
    </inertial>
    <!-- end of link list -->
    <!-- joint list -->
    <joint name="s_model_palm_finger_1_joint" type="revolute">
        <parent link="s_model_palm" />
        <child link="s_model_finger_1_link_0" />
        <axis xyz="0 1 0" />
        <origin rpy="0 3.1416 -1.57" xyz="-0.0455 0.0214 0.036" />
        <limit effort="100" lower="-0.1784" upper="0.192" velocity="1.23" />
        <dynamics damping="1.0" friction="0.1" />
    </joint>
    <joint name="s_model_palm_finger_2_joint" type="revolute">
        <parent link="s_model_palm" />
        <child link="s_model_finger_2_link_0" />
        <axis xyz="0 1 0" />
        <origin rpy="0 3.1416 -1.57" xyz="-0.0455 0.0214 -0.036" />
        <limit effort="100" lower="-0.192" upper="0.1784" velocity="1.23" />
        <dynamics damping="1.0" friction="0.1" />
    </joint>
    <joint name="s_model_palm_finger_middle_joint" type="fixed">
        <parent link="s_model_palm" />
        <child link="s_model_finger_middle_link_0" />
        <axis xyz="0 0 1" />
        <origin rpy="0 0 1.57" xyz="0.0455 0.0214 0" />
    </joint>
    <joint name="s_model_palm_tool0" type="fixed">
        <parent link="s_model_palm" />
        <child link="s_model_tool0" />
        <origin rpy="0 0 1.5707" xyz="0.0 0.0875 0.0" />
    </joint>
    <!-- end of joint list -->
    <joint name="gripper_joint" type="fixed">
        <parent link="tool0" />
        <child link="s_model_palm" />
        <origin rpy="0.0 3.141592653589793 -1.5707963267948966" xyz="0.057 0.0 0.0" />
    </joint>
    <!-- gripper plugs  -->
    <link name="plug_collision_model_link_1">
        <!-- TODO values for inertial are not correct -->
        <inertial>
            <mass value="0.2" />
            <origin xyz="0.0 0.0 0.0" rpy="0 0 0" />
            <inertia ixx="0.002708332" ixy="0.0" ixz="0.0" iyy="0.000708333" iyz="0.0" izz="0.003333332" />
        </inertial>
        <visual>
            <origin rpy="0.0 0.0 0.0" xyz="0.08 -0.05 0.0" />
            <geometry>
                <box size="0.08 0.10 0.075" />
            </geometry>
            <material name="plug_collision_model_link1_mat">
                <color rgba="0.7 0.7 0.7 0.3" />
            </material>
        </visual>
        <collision>
            <origin rpy="0.0 0.0 0.0" xyz="0.08 -0.05 0.0" />
            <geometry>
                <box size="0.08 0.10 0.075" />
            </geometry>
        </collision>
    </link>
    <joint name="plug_collision_model_link_1_joint" type="fixed">
        <origin rpy="0.0 0.0 0.0" xyz="0.0 0.0 0.0" />
        <child link="plug_collision_model_link_1" />
        <parent link="ur5_ee_link" />
    </joint>
    <!-- force torque plug -->
    <link name="plug_collision_model_link_2">
        <!-- TODO values for inertial are not correct -->
        <inertial>
            <mass value="0.2" />
            <origin xyz="0.0 0.0 0.0" rpy="0 0 0" />
            <inertia ixx="0.002708332" ixy="0.0" ixz="0.0" iyy="0.000708333" iyz="0.0" izz="0.003333332" />
        </inertial>
        <visual>
            <origin rpy="0.0 0.0 0.0" xyz="0.025 -0.025 0.06" />
            <geometry>
                <box size="0.03 0.09 0.12" />
            </geometry>
            <material name="plug_collision_model_link2_mat">
                <color rgba="0.7 0.7 0.7 0.3" />
            </material>
        </visual>
        <collision>
            <origin rpy="0.0 0.0 0.0" xyz="0.025 -0.025 0.06" />
            <geometry>
                <box size="0.03 0.09 0.12" />
            </geometry>
        </collision>
    </link>
    <joint name="plug_collision_model_link_2_joint" type="fixed">
        <origin rpy="0.0 0.0 0.0" xyz="0.0 0.0 0.0" />
        <child link="plug_collision_model_link_2" />
        <parent link="ur5_ee_link" />
    </joint>
    <!-- usb hub -->
    <link name="plug_collision_model_link_3">
        <!-- TODO values for inertial are not correct -->
        <inertial>
            <mass value="0.2" />
            <origin xyz="0.0 0.0 0.0" rpy="0 0 0" />
            <inertia ixx="0.002708332" ixy="0.0" ixz="0.0" iyy="0.000708333" iyz="0.0" izz="0.003333332" />
        </inertial>
        <visual>
            <origin rpy="0.0 0.0 0.0" xyz="0.025 -0.0 0.06" />
            <geometry>
                <box size="0.08 0.15 0.13" />
            </geometry>
            <material name="plug_collision_model_link3_mat">
                <color rgba="0.7 0.7 0.7 0.3" />
            </material>
        </visual>
        <collision>
            <origin rpy="0.0 0.0 0.0" xyz="0.025 -0.0 0.06" />
            <geometry>
                <box size="0.08 0.15 0.13" />
            </geometry>
        </collision>
    </link>
    <joint name="plug_collision_model_link_3_joint" type="fixed">
        <origin rpy="0.0 0.0 0.0" xyz="0.0 0.0 0.0" />
        <child link="plug_collision_model_link_3" />
        <parent link="ur5_ee_link" />
    </joint>
    <!-- we want Gazebo to publish joint_states for all configured joints -->
    <gazebo>
        <plugin filename="libgazebo_ros_control.so" name="tams_ur5_gazebo_ros_control">
            <robotNamespace>/</robotNamespace>
            <robotSimType>gazebo_ros_control/DefaultRobotHWSim</robotSimType>
            <legacyModeNS>true</legacyModeNS>
            <updateRate>1000.0</updateRate>
        </plugin>
    </gazebo>
    <transmission name="ur5_shoulder_pan_joint_transmission">
        <type>transmission_interface/SimpleTransmission</type>
        <actuator name="ur5_shoulder_pan_joint_motor">
            <mechanicalReduction>1.0</mechanicalReduction>
            <hardwareInterface>hardware_interface/EffortJointInterface</hardwareInterface>
        </actuator>
        <joint name="ur5_shoulder_pan_joint">
            <hardwareInterface>hardware_interface/EffortJointInterface</hardwareInterface>
        </joint>
    </transmission>
    <transmission name="ur5_shoulder_lift_joint_transmission">
        <type>transmission_interface/SimpleTransmission</type>
        <actuator name="ur5_shoulder_lift_joint_motor">
            <mechanicalReduction>1.0</mechanicalReduction>
            <hardwareInterface>hardware_interface/EffortJointInterface</hardwareInterface>
        </actuator>
        <joint name="ur5_shoulder_lift_joint">
            <hardwareInterface>hardware_interface/EffortJointInterface</hardwareInterface>
        </joint>
    </transmission>
    <transmission name="ur5_elbow_joint_transmission">
        <type>transmission_interface/SimpleTransmission</type>
        <actuator name="ur5_elbow_joint_motor">
            <mechanicalReduction>1.0</mechanicalReduction>
            <hardwareInterface>hardware_interface/EffortJointInterface</hardwareInterface>
        </actuator>
        <joint name="ur5_elbow_joint">
            <hardwareInterface>hardware_interface/EffortJointInterface</hardwareInterface>
        </joint>
    </transmission>
    <transmission name="ur5_wrist_1_joint_transmission">
        <type>transmission_interface/SimpleTransmission</type>
        <actuator name="ur5_wrist_1_joint_motor">
            <mechanicalReduction>1.0</mechanicalReduction>
            <hardwareInterface>hardware_interface/EffortJointInterface</hardwareInterface>
        </actuator>
        <joint name="ur5_wrist_1_joint">
            <hardwareInterface>hardware_interface/EffortJointInterface</hardwareInterface>
        </joint>
    </transmission>
    <transmission name="ur5_wrist_2_joint_transmission">
        <type>transmission_interface/SimpleTransmission</type>
        <actuator name="ur5_wrist_2_joint_motor">
            <mechanicalReduction>1.0</mechanicalReduction>
            <hardwareInterface>hardware_interface/EffortJointInterface</hardwareInterface>
        </actuator>
        <joint name="ur5_wrist_2_joint">
            <hardwareInterface>hardware_interface/EffortJointInterface</hardwareInterface>
        </joint>
    </transmission>
    <transmission name="ur5_wrist_3_joint_transmission">
        <type>transmission_interface/SimpleTransmission</type>
        <actuator name="ur5_wrist_3_joint_motor">
            <mechanicalReduction>1.0</mechanicalReduction>
            <hardwareInterface>hardware_interface/EffortJointInterface</hardwareInterface>
        </actuator>
        <joint name="ur5_wrist_3_joint">
            <hardwareInterface>hardware_interface/EffortJointInterface</hardwareInterface>
        </joint>
    </transmission>
    <transmission name="s_model_palm_finger_1_joint_transmission">
        <type>transmission_interface/SimpleTransmission</type>
        <actuator name="s_model_palm_finger_1_joint_motor">
            <mechanicalReduction>1.0</mechanicalReduction>
            <hardwareInterface>hardware_interface/EffortJointInterface</hardwareInterface>
        </actuator>
        <joint name="s_model_palm_finger_1_joint">
            <hardwareInterface>hardware_interface/EffortJointInterface</hardwareInterface>
        </joint>
    </transmission>
    <transmission name="s_model_finger_1_joint_1_transmission">
        <type>transmission_interface/SimpleTransmission</type>
        <actuator name="s_model_finger_1_joint_1_motor">
            <mechanicalReduction>1.0</mechanicalReduction>
            <hardwareInterface>hardware_interface/EffortJointInterface</hardwareInterface>
        </actuator>
        <joint name="s_model_finger_1_joint_1">
            <hardwareInterface>hardware_interface/EffortJointInterface</hardwareInterface>
        </joint>
    </transmission>
    <transmission name="s_model_finger_1_joint_2_transmission">
        <type>transmission_interface/SimpleTransmission</type>
        <actuator name="s_model_finger_1_joint_2_motor">
            <mechanicalReduction>1.0</mechanicalReduction>
            <hardwareInterface>hardware_interface/EffortJointInterface</hardwareInterface>
        </actuator>
        <joint name="s_model_finger_1_joint_2">
            <hardwareInterface>hardware_interface/EffortJointInterface</hardwareInterface>
        </joint>
    </transmission>
    <transmission name="s_model_finger_1_joint_3_transmission">
        <type>transmission_interface/SimpleTransmission</type>
        <actuator name="s_model_finger_1_joint_3_motor">
            <mechanicalReduction>1.0</mechanicalReduction>
            <hardwareInterface>hardware_interface/EffortJointInterface</hardwareInterface>
        </actuator>
        <joint name="s_model_finger_1_joint_3">
            <hardwareInterface>hardware_interface/EffortJointInterface</hardwareInterface>
        </joint>
    </transmission>
    <transmission name="s_model_palm_finger_2_joint_transmission">
        <type>transmission_interface/SimpleTransmission</type>
        <actuator name="s_model_palm_finger_2_joint_motor">
            <mechanicalReduction>1.0</mechanicalReduction>
            <hardwareInterface>hardware_interface/EffortJointInterface</hardwareInterface>
        </actuator>
        <joint name="s_model_palm_finger_2_joint">
            <hardwareInterface>hardware_interface/EffortJointInterface</hardwareInterface>
        </joint>
    </transmission>
    <transmission name="s_model_finger_2_joint_1_transmission">
        <type>transmission_interface/SimpleTransmission</type>
        <actuator name="s_model_finger_2_joint_1_motor">
            <mechanicalReduction>1.0</mechanicalReduction>
            <hardwareInterface>hardware_interface/EffortJointInterface</hardwareInterface>
        </actuator>
        <joint name="s_model_finger_2_joint_1">
            <hardwareInterface>hardware_interface/EffortJointInterface</hardwareInterface>
        </joint>
    </transmission>
    <transmission name="s_model_finger_2_joint_2_transmission">
        <type>transmission_interface/SimpleTransmission</type>
        <actuator name="s_model_finger_2_joint_2_motor">
            <mechanicalReduction>1.0</mechanicalReduction>
            <hardwareInterface>hardware_interface/EffortJointInterface</hardwareInterface>
        </actuator>
        <joint name="s_model_finger_2_joint_2">
            <hardwareInterface>hardware_interface/EffortJointInterface</hardwareInterface>
        </joint>
    </transmission>
    <transmission name="s_model_finger_2_joint_3_transmission">
        <type>transmission_interface/SimpleTransmission</type>
        <actuator name="s_model_finger_2_joint_3_motor">
            <mechanicalReduction>1.0</mechanicalReduction>
            <hardwareInterface>hardware_interface/EffortJointInterface</hardwareInterface>
        </actuator>
        <joint name="s_model_finger_2_joint_3">
            <hardwareInterface>hardware_interface/EffortJointInterface</hardwareInterface>
        </joint>
    </transmission>
    <transmission name="s_model_finger_middle_joint_1_transmission">
        <type>transmission_interface/SimpleTransmission</type>
        <actuator name="s_model_finger_middle_joint_1_motor">
            <mechanicalReduction>1.0</mechanicalReduction>
            <hardwareInterface>hardware_interface/EffortJointInterface</hardwareInterface>
        </actuator>
        <joint name="s_model_finger_middle_joint_1">
            <hardwareInterface>hardware_interface/EffortJointInterface</hardwareInterface>
        </joint>
    </transmission>
    <transmission name="s_model_finger_middle_joint_2_transmission">
        <type>transmission_interface/SimpleTransmission</type>
        <actuator name="s_model_finger_middle_joint_2_motor">
            <mechanicalReduction>1.0</mechanicalReduction>
            <hardwareInterface>hardware_interface/EffortJointInterface</hardwareInterface>
        </actuator>
        <joint name="s_model_finger_middle_joint_2">
            <hardwareInterface>hardware_interface/EffortJointInterface</hardwareInterface>
        </joint>
    </transmission>
    <transmission name="s_model_finger_middle_joint_3_transmission">
        <type>transmission_interface/SimpleTransmission</type>
        <actuator name="s_model_finger_middle_joint_3_motor">
            <mechanicalReduction>1.0</mechanicalReduction>
            <hardwareInterface>hardware_interface/EffortJointInterface</hardwareInterface>
        </actuator>
        <joint name="s_model_finger_middle_joint_3">
            <hardwareInterface>hardware_interface/EffortJointInterface</hardwareInterface>
        </joint>
    </transmission>
    <link name="world" />
    <joint name="world_floor_joint" type="fixed">
        <parent link="world" />
        <child link="floor" />
        <origin rpy="0.0 0.0 0.0" xyz="0.0 0.0 0.0" />
    </joint>
    <link name="map" />
    <joint name="map_world" type="fixed">
        <parent link="world" />
        <child link="map" />
        <origin rpy="0.0 0.0 -0.32" xyz="0.9 1.3 0.0" />
    </joint>
    <joint name="wall_ur5_joint" type="fixed">
        <parent link="ur5_mount" />
        <child link="ur5_base_link" />
        <origin rpy="0.0 0.0 1.5707963267948966" xyz="0 0 0.003" />
    </joint>
    <joint name="world_marimba_joint" type="fixed">
        <parent link="world" />
        <child link="marimba" />
        <origin rpy="0.0 0.0 3.141592653589793" xyz="1.25 0.8 0.80" />
    </joint>
    <link name="mallet_base_link">
        <visual>
            <origin rpy="-1.5707963267948966 0.0 0.0" xyz="-0.0315 -0.0342 0.11" />
            <geometry>
                <mesh filename="package://marimbabot_description/mesh/two_mallet_base_element.stl" scale="0.001 0.001 0.001" />
            </geometry>
            <material name="mallet_holder_white">
                <color rgba="1.0 1.0 1.0 1.0" />
            </material>
        </visual>
        <collision>
            <origin rpy="0.0 0.0 0.0" xyz="0.0 0.0 0.055" />
            <geometry>
                <box size="0.077 0.0804 0.11" />
            </geometry>
        </collision>
        <inertial>
            <mass value="0.1" />
            <origin xyz="0 0 0" rpy="0 0 0" />
            <inertia ixx="0.03" iyy="0.03" izz="0.03" ixy="0.0" ixz="0.0" iyz="0.0" />
        </inertial>
    </link>
    <link name="mallet_servo_box">
        <visual>
            <origin rpy="-1.5707963267948966 0.0 0.0" xyz="-0.01 -0.0342 0.0233" />
            <geometry>
                <mesh filename="package://marimbabot_description/mesh/two_mallet_servo_element.stl" scale="0.001 0.001 0.001" />
            </geometry>
            <material name="mallet_holder_white">
                <color rgba="1.0 1.0 1.0 1.0" />
            </material>
        </visual>
    </link>
    <link name="mallet_base_box_1">
        <visual>
            <origin rpy="-1.5707963267948966 -1.5707963267948966 0.0" xyz="0.0 0.0 0.045" />
            <geometry>
                <mesh filename="package://marimbabot_description/mesh/mallet_double_flex.stl" scale="0.001 0.001 0.001" />
            </geometry>
            <material name="mallet_holder_white">
                <color rgba="1.0 1.0 1.0 1.0" />
            </material>
        </visual>
        <collision>
            <origin rpy="0.0 0.0 0.0" xyz="0.0 0.0 0.045" />
            <geometry>
                <box size="0.033 0.09 0.09" />
            </geometry>
        </collision>
        <inertial>
            <mass value="0.1" />
            <origin xyz="0 0 0" rpy="0 0 0" />
            <inertia ixx="0.03" iyy="0.03" izz="0.03" ixy="0.0" ixz="0.0" iyz="0.0" />
        </inertial>
    </link>
    <link name="mallet_base_box_2">
        <visual>
            <origin rpy="-1.5707963267948966 -1.5707963267948966 3.141592653589793" xyz="0.0 0.0 0.045" />
            <geometry>
                <mesh filename="package://marimbabot_description/mesh/mallet_double_flex.stl" scale="0.001 0.001 0.001" />
            </geometry>
            <material name="mallet_holder_white">
                <color rgba="1.0 1.0 1.0 1.0" />
            </material>
        </visual>
        <collision>
            <origin rpy="0.0 0.0 0.0" xyz="0.0 0.0 0.045" />
            <geometry>
                <box size="0.033 0.09 0.09" />
            </geometry>
        </collision>
        <inertial>
            <mass value="0.1" />
            <origin xyz="0 0 0" rpy="0 0 0" />
            <inertia ixx="0.03" iyy="0.03" izz="0.03" ixy="0.0" ixz="0.0" iyz="0.0" />
        </inertial>
    </link>
    <link name="mallet_neck_1">
        <collision>
            <origin rpy="0.0 0.0 0.0" xyz="0.0 0.0 0.1875" />
            <geometry>
                <cylinder length="0.375" radius="0.0042" />
            </geometry>
        </collision>
        <inertial>
            <mass value="0.1" />
            <origin xyz="0 0 0" rpy="0 0 0" />
            <inertia ixx="0.03" iyy="0.03" izz="0.03" ixy="0.0" ixz="0.0" iyz="0.0" />
        </inertial>
    </link>
    <link name="mallet_neck_2">
        <collision>
            <origin rpy="0.0 0.0 0.0" xyz="0.0 0.0 0.1875" />
            <geometry>
                <cylinder length="0.375" radius="0.0042" />
            </geometry>
        </collision>
        <inertial>
            <mass value="0.1" />
            <origin xyz="0 0 0" rpy="0 0 0" />
            <inertia ixx="0.03" iyy="0.03" izz="0.03" ixy="0.0" ixz="0.0" iyz="0.0" />
        </inertial>
    </link>
    <link name="mallet_head_1">
        <collision>
            <origin rpy="0.0 0.0 0.0" xyz="0.0 0.0 0.0" />
            <geometry>
                <sphere radius="0.018375" />
            </geometry>
        </collision>
        <inertial>
            <mass value="0.1" />
            <origin xyz="0 0 0" rpy="0 0 0" />
            <inertia ixx="0.03" iyy="0.03" izz="0.03" ixy="0.0" ixz="0.0" iyz="0.0" />
        </inertial>
    </link>
    <link name="mallet_head_2">
        <collision>
            <origin rpy="0.0 0.0 0.0" xyz="0.0 0.0 0.0" />
            <geometry>
                <sphere radius="0.018375" />
            </geometry>
        </collision>
        <inertial>
            <mass value="0.1" />
            <origin xyz="0 0 0" rpy="0 0 0" />
            <inertia ixx="0.03" iyy="0.03" izz="0.03" ixy="0.0" ixz="0.0" iyz="0.0" />
        </inertial>
    </link>
    <joint name="mallet_base_link_group_1" type="fixed">
        <parent link="mallet_base_link" />
        <child link="mallet_base_box_1" />
        <origin xyz="0.021 0.0038 0.12179999999999999" />
    </joint>
    <joint name="mallet_finger" type="revolute">
        <parent link="mallet_base_link" />
        <child link="mallet_servo_box" />
        <origin xyz="-0.0215 0.0 0.0868" />
        <limit effort="1.0" lower="0.0" upper="0.801" velocity="7.0" />
        <axis xyz="0.0 -1.0 0.0" />
    </joint>
    <joint name="mallet_group_1_start_link" type="fixed">
        <parent link="mallet_base_box_1" />
        <child link="mallet_neck_1" />
        <origin xyz="0.0 0.0 0.015" />
    </joint>
    <joint name="mallet_group_1_2nd_link" type="fixed">
        <parent link="mallet_neck_1" />
        <child link="mallet_head_1" />
        <origin xyz="0.0 0.0 0.38337499999999997" />
    </joint>
    <joint name="mallet_group_2_start_link" type="fixed">
        <parent link="mallet_servo_box" />
        <child link="mallet_base_box_2" />
        <origin xyz="0.0075 0.0038 0.0351" />
    </joint>
    <joint name="mallet_group_2_2nd_link" type="fixed">
        <parent link="mallet_base_box_2" />
        <child link="mallet_neck_2" />
        <origin xyz="0.0 0.0 0.015" />
    </joint>
    <joint name="mallet_group_2_3rd_link" type="fixed">
        <parent link="mallet_neck_2" />
        <child link="mallet_head_2" />
        <origin xyz="0.0 0.0 0.38337499999999997" />
    </joint>
    <joint name="end_mallet" type="fixed">
        <parent link="s_model_palm" />
        <child link="mallet_base_link" />
        <origin rpy="0.0 0.0 3.141592653589793" xyz="0.0 0.091 -0.045" />
    </joint>
    <transmission name="trans_mallet_finger">
        <type>transmission_interface/SimpleTransmission</type>
        <joint name="mallet_finger">
            <hardwareInterface>hardware_interface/EffortJointInterface</hardwareInterface>
        </joint>
        <actuator name="mallet_finger_motor">
            <hardwareInterface>hardware_interface/EffortJointInterface</hardwareInterface>
            <mechanicalReduction>1</mechanicalReduction>
        </actuator>
    </transmission>
</robot>
